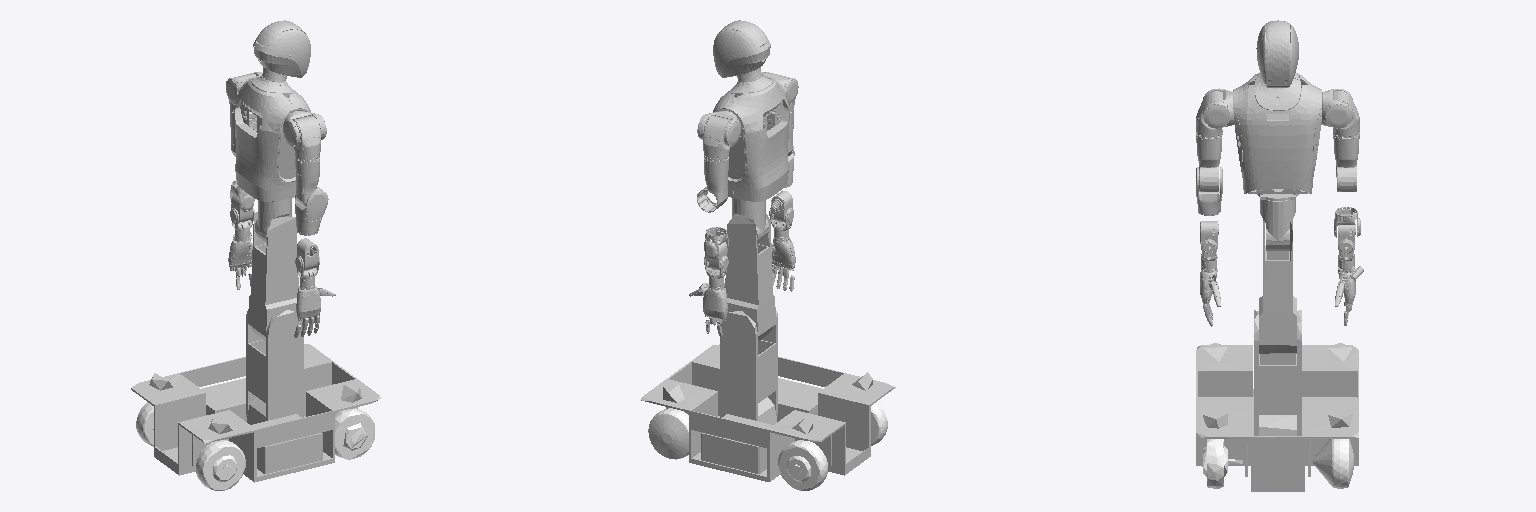
--- What the picture shows (computed from the rendered views, not written in the file) ---
3 views of the same robot in one strip: view 1: azimuth 30°, elevation 25°; view 2: azimuth 150°, elevation 25°; view 3: azimuth 270°, elevation 25° (orthographic).
Robot: M92UW — 89 links, 88 joints (44 revolute, 4 continuous, 40 fixed); root link base_footprint; default pose: every joint at zero.
Links seen in each view (by area): view 1: base_link, trunk_link, ankle_p_link, knee_p_link, head2_p_link, rb_wheel_link, rf_wheel_link, r_arm4_elbow_p_link, r_arm2_shoulder_r_link, r_arm3_shoulder_y_link, waist1_p_link, r_arm7_wrist_r_link (+2 smaller); view 2: base_link, trunk_link, ankle_p_link, knee_p_link, head2_p_link, lb_wheel_link, lf_wheel_link, l_arm3_shoulder_y_link, l_arm2_shoulder_r_link, waist1_p_link, l_arm1_shoulder_p_link, l_arm7_wrist_r_link (+2 smaller); view 3: base_link, trunk_link, knee_p_link, ankle_p_link, head2_p_link, lf_wheel_link, waist1_p_link, l_arm3_shoulder_y_link, r_arm3_shoulder_y_link, rf_wheel_link, l_arm1_shoulder_p_link, r_arm1_shoulder_p_link (+4 smaller).
Boxes of the visible links, bbox=[...] form: base_link: bbox=[131, 344, 380, 482]; trunk_link: bbox=[235, 76, 310, 201]; ankle_p_link: bbox=[246, 310, 303, 420]; knee_p_link: bbox=[248, 212, 298, 340]; head2_p_link: bbox=[253, 20, 310, 77]; rb_wheel_link: bbox=[196, 440, 245, 490]; rf_wheel_link: bbox=[335, 408, 374, 459]; r_arm4_elbow_p_link: bbox=[295, 190, 328, 235]; r_arm2_shoulder_r_link: bbox=[293, 115, 320, 161]; r_arm3_shoulder_y_link: bbox=[295, 158, 321, 207]; waist1_p_link: bbox=[255, 198, 291, 242]; r_arm7_wrist_r_link: bbox=[295, 256, 320, 319]; base_link: bbox=[641, 344, 895, 481]; trunk_link: bbox=[713, 76, 789, 201]; ankle_p_link: bbox=[720, 311, 777, 420]; knee_p_link: bbox=[725, 214, 775, 340]; head2_p_link: bbox=[713, 20, 770, 77]; lb_wheel_link: bbox=[778, 440, 827, 490]; lf_wheel_link: bbox=[648, 408, 688, 459]; l_arm3_shoulder_y_link: bbox=[697, 158, 728, 212]; l_arm2_shoulder_r_link: bbox=[703, 116, 730, 161]; waist1_p_link: bbox=[732, 198, 768, 242]; l_arm1_shoulder_p_link: bbox=[697, 111, 740, 146]; l_arm7_wrist_r_link: bbox=[703, 256, 728, 319]; base_link: bbox=[1196, 343, 1358, 491]; trunk_link: bbox=[1233, 73, 1321, 194]; knee_p_link: bbox=[1259, 219, 1296, 353]; ankle_p_link: bbox=[1254, 310, 1301, 435]; head2_p_link: bbox=[1256, 20, 1298, 87]; lf_wheel_link: bbox=[1313, 439, 1353, 488]; waist1_p_link: bbox=[1260, 200, 1295, 250]; l_arm3_shoulder_y_link: bbox=[1333, 134, 1359, 191]; r_arm3_shoulder_y_link: bbox=[1196, 133, 1222, 191]; rf_wheel_link: bbox=[1202, 439, 1242, 488]; l_arm1_shoulder_p_link: bbox=[1321, 89, 1352, 128]; r_arm1_shoulder_p_link: bbox=[1203, 88, 1234, 128].
Size in the robot's own frame: 0.8 by 0.6213 by 1.8 metres.
49 mesh visuals loaded from 57 distinct referenced files (49 binary STL); not drawn: 8 (reference not matched to a file when rendering).

robot.urdf — M92UW:
<?xml version="1.0" ?>
<!-- =================================================================================== -->
<!-- |    This document was autogenerated by xacro from [local-path]/workspace/urdf_temp/src/human_description/robots/M92UW/M92UW.urdf.xacro | -->
<!-- |    EDITING THIS FILE BY HAND IS NOT RECOMMENDED                                 | -->
<!-- =================================================================================== -->
<robot name="M92UW">
  <link name="base_footprint"/>
  <joint name="base_footprint_fixed_joint" type="fixed">
    <parent link="base_footprint"/>
    <child link="base_link"/>
    <origin rpy="0 0 0" xyz="0 0 0.131"/>
  </joint>
  <link name="base_link">
    <visual name="base_link_vis">
      <geometry>
        <mesh filename="package://human_description/meshes/M92UW/visual/base_link.stl" scale="1e-3 1e-3 1e-3"/>
      </geometry>
      <material name="metal">
        <color rgba="0.85 0.85 0.85 1"/>
      </material>
    </visual>
    <collision name="base_link_col">
      <geometry>
        <mesh filename="package://human_description/meshes/M92UW/collision/base_link.stl" scale="1e-3 1e-3 1e-3"/>
      </geometry>
    </collision>
    <inertial>
      <origin rpy="0.0 0.0 0.0" xyz="0.013367658 0 -0.015095836"/>
      <mass value="74.786285"/>
      <inertia ixx="2.5701579" ixy="0" ixz="-0.015531692" iyy="2.4786102" iyz="0" izz="4.3899894"/>
    </inertial>
  </link>
  <link name="lf_wheel_link">
    <visual name="lf_wheel_link_vis">
      <geometry>
        <mesh filename="package://human_description/meshes/M92UW/visual/lf_wheel_link.stl" scale="1e-3 1e-3 1e-3"/>
      </geometry>
      <material name="carbon">
        <color rgba="1 1 1 1"/>
        <texture filename="package://human_description/textures/carbon.png"/>
      </material>
    </visual>
    <collision name="lf_wheel_link_col">
      <origin rpy="1.5707963267948966 0 0" xyz="0 0.11 0"/>
      <geometry>
        <cylinder length="0.05" radius="0.102"/>
      </geometry>
    </collision>
    <inertial>
      <origin rpy="0.0 0.0 0.0" xyz="0 0.10966209 0"/>
      <mass value="1.1156517"/>
      <inertia ixx="0.0030579042" ixy="0" ixz="0" iyy="0.0050380481" iyz="0" izz="0.0030579069"/>
    </inertial>
  </link>
  <joint name="lf_wheel_joint" type="continuous">
    <parent link="base_link"/>
    <child link="lf_wheel_link"/>
    <origin rpy="0.0 0.0 0.0" xyz="0.29 0.12 -0.03"/>
    <axis xyz="0 1 0"/>
    <limit effort="4360.0" velocity="62.8"/>
    <dynamics damping="1.0" friction="0.0"/>
  </joint>
  <link name="lb_wheel_link">
    <visual name="lb_wheel_link_vis">
      <geometry>
        <mesh filename="package://human_description/meshes/M92UW/visual/lb_wheel_link.stl" scale="1e-3 1e-3 1e-3"/>
      </geometry>
      <material name="carbon">
        <color rgba="1 1 1 1"/>
        <texture filename="package://human_description/textures/carbon.png"/>
      </material>
    </visual>
    <collision name="lb_wheel_link_col">
      <origin rpy="1.5707963267948966 0 0" xyz="0 0.11 0"/>
      <geometry>
        <cylinder length="0.05" radius="0.102"/>
      </geometry>
    </collision>
    <inertial>
      <origin rpy="0.0 0.0 0.0" xyz="0 0.10966209 0"/>
      <mass value="1.1156517"/>
      <inertia ixx="0.0030579042" ixy="0" ixz="0" iyy="0.0050380481" iyz="0" izz="0.0030579069"/>
    </inertial>
  </link>
  <joint name="lb_wheel_joint" type="continuous">
    <parent link="base_link"/>
    <child link="lb_wheel_link"/>
    <origin rpy="0.0 0.0 0.0" xyz="-0.29 0.12 -0.03"/>
    <axis xyz="0 1 0"/>
    <limit effort="436.0" velocity="62.8"/>
    <dynamics damping="1.0" friction="0.0"/>
  </joint>
  <link name="rf_wheel_link">
    <visual name="rf_wheel_link_vis">
      <geometry>
        <mesh filename="package://human_description/meshes/M92UW/visual/rf_wheel_link.stl" scale="1e-3 1e-3 1e-3"/>
      </geometry>
      <material name="carbon">
        <color rgba="1 1 1 1"/>
        <texture filename="package://human_description/textures/carbon.png"/>
      </material>
    </visual>
    <collision name="rf_wheel_link_col">
      <origin rpy="1.5707963267948966 0 0" xyz="0 -0.11 0"/>
      <geometry>
        <cylinder length="0.005" radius="0.102"/>
      </geometry>
    </collision>
    <inertial>
      <origin rpy="0.0 0.0 0.0" xyz="0 -0.10966209 0"/>
      <mass value="1.1156517"/>
      <inertia ixx="0.0030579042" ixy="0" ixz="0" iyy="0.0050380481" iyz="0" izz="0.0030579069"/>
    </inertial>
  </link>
  <joint name="rf_wheel_joint" type="continuous">
    <parent link="base_link"/>
    <child link="rf_wheel_link"/>
    <origin rpy="0.0 0.0 0.0" xyz="0.29 -0.12 -0.03"/>
    <axis xyz="0 1 0"/>
    <limit effort="4360.0" velocity="62.8"/>
    <dynamics damping="1.0" friction="0.0"/>
  </joint>
  <link name="rb_wheel_link">
    <visual name="rb_wheel_link_vis">
      <geometry>
        <mesh filename="package://human_description/meshes/M92UW/visual/rb_wheel_link.stl" scale="1e-3 1e-3 1e-3"/>
      </geometry>
      <material name="carbon">
        <color rgba="1 1 1 1"/>
        <texture filename="package://human_description/textures/carbon.png"/>
      </material>
    </visual>
    <collision name="rb_wheel_link_col">
      <origin rpy="1.5707963267948966 0 0" xyz="0 -0.11 0"/>
      <geometry>
        <cylinder length="0.005" radius="0.102"/>
      </geometry>
    </collision>
    <inertial>
      <origin rpy="0.0 0.0 0.0" xyz="0 -0.10966209 0"/>
      <mass value="1.1156517"/>
      <inertia ixx="0.0030579042" ixy="0" ixz="0" iyy="0.0050380481" iyz="0" izz="0.0030579069"/>
    </inertial>
  </link>
  <joint name="rb_wheel_joint" type="continuous">
    <parent link="base_link"/>
    <child link="rb_wheel_link"/>
    <origin rpy="0.0 0.0 0.0" xyz="-0.29 -0.12 -0.03"/>
    <axis xyz="0 1 0"/>
    <limit effort="4360.0" velocity="62.8"/>
    <dynamics damping="1.0" friction="0.0"/>
  </joint>
  <link name="ankle_p_link">
    <visual name="ankle_p_link_vis">
      <geometry>
        <mesh filename="package://human_description/meshes/M92UW/visual/ankle_p_link.stl" scale="1e-3 1e-3 1e-3"/>
      </geometry>
      <material name="metal">
        <color rgba="0.85 0.85 0.85 1"/>
      </material>
    </visual>
    <collision name="ankle_p_link_col">
      <geometry>
        <mesh filename="package://human_description/meshes/M92UW/collision/ankle_p_link.stl" scale="1e-3 1e-3 1e-3"/>
      </geometry>
    </collision>
    <inertial>
      <origin rpy="0.0 0.0 0.0" xyz="0 0.00031353654 0.2"/>
      <mass value="5.0014729"/>
      <inertia ixx="0.12742424" ixy="0.0" ixz="0.0" iyy="0.11078527" iyz="0.0" izz="0.040523373"/>
    </inertial>
  </link>
  <joint name="ankle_p_joint" type="revolute">
    <parent link="base_link"/>
    <child link="ankle_p_link"/>
    <origin rpy="0.0 0.0 0.0" xyz="0.085 0.0 0.0"/>
    <axis xyz="0 1 0"/>
    <limit effort="436.0" lower="-1.5707963267948966" upper="0.05235987755982988" velocity="2.51"/>
    <safety_controller k_position="121.0" k_velocity="540.0" soft_lower_limit="-1.5184364492350666" soft_upper_limit="0.0"/>
    <dynamics damping="1.0" friction="0.1"/>
  </joint>
  <link name="knee_p_link">
    <visual name="knee_p_link_vis">
      <geometry>
        <mesh filename="package://human_description/meshes/M92UW/visual/knee_p_link.stl" scale="1e-3 1e-3 1e-3"/>
      </geometry>
      <material name="metal">
        <color rgba="0.85 0.85 0.85 1"/>
      </material>
    </visual>
    <collision name="knee_p_link_col">
      <geometry>
        <mesh filename="package://human_description/meshes/M92UW/collision/knee_p_link.stl" scale="1e-3 1e-3 1e-3"/>
      </geometry>
    </collision>
    <inertial>
      <origin rpy="0.0 0.0 0.0" xyz="-0.00017250466 -5.7499427e-05 0.091520826"/>
      <mass value="9.9995835"/>
      <inertia ixx="0.17718143" ixy="3.3078853e-07" ixz="0.00019537528" iyy="0.17966307" iyz="6.5114089e-05" izz="0.038209575"/>
    </inertial>
  </link>
  <joint name="knee_p_joint" type="revolute">
    <parent link="ankle_p_link"/>
    <child link="knee_p_link"/>
    <origin rpy="0.0 0.0 0.0" xyz="0.0 0.0 0.4"/>
    <axis xyz="0 1 0"/>
    <limit effort="436.0" lower="-0.05235987755982988" upper="2.7768188399229783" velocity="2.51"/>
    <safety_controller k_position="121.0" k_velocity="540.0" soft_lower_limit="0.0" soft_upper_limit="2.724458962363148"/>
    <dynamics damping="1.0" friction="0.1"/>
  </joint>
  <link name="waist1_p_link">
    <visual name="waist1_p_link_vis">
      <geometry>
        <mesh filename="package://human_description/meshes/M92UW/visual/waist1_p_link.stl" scale="1e-3 1e-3 1e-3"/>
      </geometry>
      <material name="metal">
        <color rgba="0.85 0.85 0.85 1"/>
      </material>
    </visual>
    <collision name="waist1_p_link_col">
      <geometry>
        <mesh filename="package://human_description/meshes/M92UW/collision/waist1_p_link.stl" scale="1e-3 1e-3 1e-3"/>
      </geometry>
    </collision>
    <inertial>
      <origin rpy="0.0 0.0 0.0" xyz="0 0 0.057429778"/>
      <mass value="6.3049221"/>
      <inertia ixx="0.029907033" ixy="0" ixz="0" iyy="0.031745346" iyz="0" izz="0.012330906"/>
    </inertial>
  </link>
  <joint name="waist1_p_joint" type="revolute">
    <parent link="knee_p_link"/>
    <child link="waist1_p_link"/>
    <origin rpy="0.0 0.0 0.0" xyz="0.0 0.0 0.4"/>
    <axis xyz="0 1 0"/>
    <limit effort="207.0" lower="-2.2689280275926285" upper="2.2689280275926285" velocity="3.14"/>
    <safety_controller k_position="121.0" k_velocity="540.0" soft_lower_limit="-2.2165681500327987" soft_upper_limit="2.2165681500327987"/>
    <dynamics damping="1.0" friction="0.1"/>
  </joint>
  <link name="waist2_y_link">
    <visual name="waist2_y_link_vis">
      <geometry>
        <mesh filename="package://human_description/meshes/M92UW/visual/waist2_y_link.stl" scale="1e-3 1e-3 1e-3"/>
      </geometry>
      <material name="metal">
        <color rgba="0.85 0.85 0.85 1"/>
      </material>
    </visual>
    <collision name="waist2_y_link_col">
      <geometry>
        <mesh filename="package://human_description/meshes/M92UW/collision/waist2_y_link.stl" scale="1e-3 1e-3 1e-3"/>
      </geometry>
    </collision>
    <inertial>
      <origin rpy="0.0 0.0 0.0" xyz="0 0 0.17307869"/>
      <mass value="0.70904416"/>
      <inertia ixx="0.0010443308" ixy="0" ixz="0" iyy="0.0010443307" iyz="0" izz="0.002054833"/>
    </inertial>
  </link>
  <joint name="waist2_y_joint" type="revolute">
    <parent link="waist1_p_link"/>
    <child link="waist2_y_link"/>
    <origin rpy="0.0 0.0 0.0" xyz="0.0 0.0 0.0"/>
    <axis xyz="0 0 1"/>
    <limit effort="207.0" lower="-1.5707963267948966" upper="1.5707963267948966" velocity="3.14"/>
    <safety_controller k_position="121.0" k_velocity="540.0" soft_lower_limit="-1.5184364492350666" soft_upper_limit="1.5184364492350666"/>
    <dynamics damping="1.0" friction="0.1"/>
  </joint>
  <link name="trunk_link">
    <visual name="trunk_link_vis">
      <geometry>
        <mesh filename="package://human_description/meshes/M92UW/visual/trunk_link.stl" scale="1e-3 1e-3 1e-3"/>
      </geometry>
      <material name="metal">
        <color rgba="0.85 0.85 0.85 1"/>
      </material>
    </visual>
    <collision name="trunk_link_col">
      <geometry>
        <mesh filename="package://human_description/meshes/M92UW/collision/trunk_link.stl" scale="1e-3 1e-3 1e-3"/>
      </geometry>
    </collision>
    <inertial>
      <origin rpy="0.0 0.0 0.0" xyz="-0.0085487881 -9.606895e-06 -0.077759044"/>
      <mass value="12.350557"/>
      <inertia ixx="0.35316138" ixy="-1.0848429e-05" ixz="-0.010659045" iyy="0.26640983" iyz="8.9227842e-06" izz="0.20173237"/>
    </inertial>
  </link>
  <joint name="trunk_fixed_joint" type="fixed">
    <parent link="waist2_y_link"/>
    <child link="trunk_link"/>
    <origin rpy="0.0 0.0 0.0" xyz="0.0 0.0 0.510000061"/>
    <axis xyz="0 0 1"/>
  </joint>
  <link name="head1_y_link">
    <visual name="head1_y_link_vis">
      <geometry>
        <mesh filename="package://human_description/meshes/M92UW/visual/head1_y_link.stl" scale="1e-3 1e-3 1e-3"/>
      </geometry>
      <material name="metal">
        <color rgba="0.85 0.85 0.85 1"/>
      </material>
    </visual>
    <collision name="head1_y_link_col">
      <geometry>
        <mesh filename="package://human_description/meshes/M92UW/collision/head1_y_link.stl" scale="1e-3 1e-3 1e-3"/>
      </geometry>
    </collision>
    <inertial>
      <origin rpy="0.0 0.0 0.0" xyz="0 0 0"/>
      <mass value="0.9701721487615899"/>
      <inertia ixx="0.002353602425794535" ixy="-1.5047554446877549e-06" ixz="9.720103999911807e-07" iyy="0.0023108930597505323" iyz="-5.8260809010239775e-05" izz="0.0008192659356165283"/>
    </inertial>
  </link>
  <joint name="head1_y_joint" type="revolute">
    <parent link="trunk_link"/>
    <child link="head1_y_link"/>
    <origin rpy="0.0 0.227 0.0" xyz="0.00825076246 0.0 0.187487518331"/>
    <axis xyz="0 0 1"/>
    <limit effort="16.0" lower="-0.7853981633974483" upper="0.7853981633974483" velocity="6.0"/>
    <safety_controller k_position="121.0" k_velocity="540.0" soft_lower_limit="-0.7330382858376184" soft_upper_limit="0.7330382858376184"/>
    <dynamics damping="1.0" friction="0.1"/>
  </joint>
  <link name="head2_p_link">
    <visual name="head2_p_link_vis">
      <geometry>
        <mesh filename="package://human_description/meshes/M92UW/visual/head2_p_link.stl" scale="1e-3 1e-3 1e-3"/>
      </geometry>
      <material name="metal">
        <color rgba="0.85 0.85 0.85 1"/>
      </material>
    </visual>
    <collision name="head2_p_link_col">
      <geometry>
        <mesh filename="package://human_description/meshes/M92UW/collision/head2_p_link.stl" scale="1e-3 1e-3 1e-3"/>
      </geometry>
    </collision>
    <inertial>
      <origin rpy="0.0 0.0 0.0" xyz="0.023983628 -3.4088057e-05 0.060004983"/>
      <mass value="1.4412722"/>
      <inertia ixx="0.0051107798" ixy="-5.4733507e-05" ixz="0.001174679" iyy="0.0074364813" iyz="3.6514141e-05" izz="0.0066131559"/>
    </inertial>
  </link>
  <joint name="head2_p_joint" type="revolute">
    <parent link="head1_y_link"/>
    <child link="head2_p_link"/>
    <origin rpy="0.0 0.0 0.0" xyz="0.0 0.0 0.0"/>
    <axis xyz="0 1 0"/>
    <limit effort="15.0" lower="-0.3490658503988659" upper="0.2617993877991494" velocity="8.0"/>
    <safety_controller k_position="121.0" k_velocity="540.0" soft_lower_limit="-0.29670597283903605" soft_upper_limit="0.20943951023931953"/>
    <dynamics damping="1.0" friction="0.1"/>
  </joint>
  <link name="l_arm1_shoulder_p_link">
    <visual name="l_arm1_shoulder_p_link_vis">
      <geometry>
        <mesh filename="package://human_description/meshes/M92UW/visual/l_arm1_shoulder_p_link.stl" scale="1e-3 1e-3 1e-3"/>
      </geometry>
      <material name="metal">
        <color rgba="0.85 0.85 0.85 1"/>
      </material>
    </visual>
    <collision name="l_arm1_shoulder_p_link_col">
      <geometry>
        <mesh filename="package://human_description/meshes/M92UW/collision/l_arm1_shoulder_p_link.stl" scale="1e-3 1e-3 1e-3"/>
      </geometry>
    </collision>
    <inertial>
      <origin rpy="0.0 0.0 0.0" xyz="0.008950692823963513 -0.007910244340673698 0.001047817615140858"/>
      <mass value="2.347873199255413"/>
      <inertia ixx="0.00371805577636075" ixy="-0.00020375534708451775" ixz="3.609106173368525e-05" iyy="0.004459283172641818" iyz="5.624647211110556e-05" izz="0.004925669991342847"/>
    </inertial>
  </link>
  <joint name="l_arm1_shoulder_p_joint" type="revolute">
    <parent link="trunk_link"/>
    <child link="l_arm1_shoulder_p_link"/>
    <origin rpy="0.0 0.0 0.0" xyz="0.0 0.225 0.0"/>
    <axis xyz="0 1 0"/>
    <limit effort="107.0" lower="-3.141592653589793" upper="1.0000736613927508" velocity="3.9"/>
    <safety_controller k_position="121.0" k_velocity="540.0" soft_lower_limit="-3.0892327760299634" soft_upper_limit="0.9477137838329208"/>
    <dynamics damping="1.0" friction="0.1"/>
  </joint>
  <link name="l_arm2_shoulder_r_link">
    <visual name="l_arm2_shoulder_r_link_vis">
      <geometry>
        <mesh filename="package://human_description/meshes/M92UW/visual/l_arm2_shoulder_r_link.stl" scale="1e-3 1e-3 1e-3"/>
      </geometry>
      <material name="metal">
        <color rgba="0.85 0.85 0.85 1"/>
      </material>
    </visual>
    <collision name="l_arm2_shoulder_r_link_col">
      <geometry>
        <mesh filename="package://human_description/meshes/M92UW/collision/l_arm2_shoulder_r_link.stl" scale="1e-3 1e-3 1e-3"/>
      </geometry>
    </collision>
    <inertial>
      <origin rpy="0.0 0.0 0.0" xyz="0.00036305191629661246 0.011843042908443239 -0.03652190992211854"/>
      <mass value="0.752587840927864"/>
      <inertia ixx="0.0026036114569122793" ixy="8.592053527867745e-06" ixz="1.6856075010420394e-05" iyy="0.0024594847856526784" iyz="0.0002802648051565737" izz="0.0016631005538151674"/>
    </inertial>
  </link>
  <joint name="l_arm2_shoulder_r_joint" type="revolute">
    <parent link="l_arm1_shoulder_p_link"/>
    <child link="l_arm2_shoulder_r_link"/>
    <origin rpy="0.0 0.0 0.0" xyz="0.0 0.0 0.0"/>
    <axis xyz="1 0 0"/>
    <limit effort="107.0" lower="-0.5235987755982988" upper="1.5707963267948966" velocity="3.9"/>
    <safety_controller k_position="121.0" k_velocity="540.0" soft_lower_limit="-0.47123889803846897" soft_upper_limit="1.5184364492350666"/>
    <dynamics damping="1.0" friction="0.1"/>
  </joint>
  <link name="l_arm3_shoulder_y_link">
    <visual name="l_arm3_shoulder_y_link_vis">
      <geometry>
        <mesh filename="package://human_description/meshes/M92UW/visual/l_arm3_shoulder_y_link.stl" scale="1e-3 1e-3 1e-3"/>
      </geometry>
      <material name="metal">
        <color rgba="0.85 0.85 0.85 1"/>
      </material>
    </visual>
    <collision name="l_arm3_shoulder_y_link_col">
      <geometry>
        <mesh filename="package://human_description/meshes/M92UW/collision/l_arm3_shoulder_y_link.stl" scale="1e-3 1e-3 1e-3"/>
      </geometry>
    </collision>
    <inertial>
      <origin rpy="0.0 0.0 0.0" xyz="0.009483721082429376 0.0009283823410288751 0.07220283077817466"/>
      <mass value="2.8032226973946757"/>
      <inertia ixx="0.01709273409680172" ixy="-3.1041493444281146e-05" ixz="0.0018537887840343332" iyy="0.017612642148909542" iyz="0.00017830759281331393" izz="0.003132408910489035"/>
    </inertial>
  </link>
  <joint name="l_arm3_shoulder_y_joint" type="revolute">
    <parent link="l_arm2_shoulder_r_link"/>
    <child link="l_arm3_shoulder_y_link"/>
    <origin rpy="0.0 0.0 0.0" xyz="0.0 0.0275 -0.28"/>
    <axis xyz="0 0 1"/>
    <limit effort="70.0" lower="-3.139847324337799" upper="3.139847324337799" velocity="3.8"/>
    <safety_controller k_position="121.0" k_velocity="540.0" soft_lower_limit="-3.087487446777969" soft_upper_limit="3.087487446777969"/>
    <dynamics damping="1.0" friction="0.1"/>
  </joint>
  <link name="l_arm4_elbow_p_link">
    <visual name="l_arm4_elbow_p_link_vis">
      <geometry>
        <mesh filename="package://human_description/meshes/M92UW/visual/l_arm4_elbow_p_link.stl" scale="1e-3 1e-3 1e-3"/>
      </geometry>
      <material name="metal">
        <color rgba="0.85 0.85 0.85 1"/>
      </material>
    </visual>
    <collision name="l_arm4_elbow_p_link_col">
      <geometry>
        <mesh filename="package://human_description/meshes/M92UW/collision/l_arm4_elbow_p_link.stl" scale="1e-3 1e-3 1e-3"/>
      </geometry>
    </collision>
    <inertial>
      <origin rpy="0.0 0.0 0.0" xyz="-0.016878859016134812 -0.002424599482891291 -0.08347296858171128"/>
      <mass value="1.4951436605879314"/>
      <inertia ixx="0.004293550118219109" ixy="4.3192250569185595e-05" ixz="-0.0003401699176851234" iyy="0.004009022454595748" iyz="0.00022976670691615358" izz="0.0019433761729977456"/>
    </inertial>
  </link>
  <joint name="l_arm4_elbow_p_joint" type="revolute">
    <parent link="l_arm3_shoulder_y_link"/>
    <child link="l_arm4_elbow_p_link"/>
    <origin rpy="0.0 0.0 0.0" xyz="0.02 0.0 0.0"/>
    <axis xyz="0 1 0"/>
    <limit effort="70.0" lower="-2.6162485487394997" upper="0.05235987755982988" velocity="3.8"/>
    <safety_controller k_position="121.0" k_velocity="540.0" soft_lower_limit="-2.5638886711796705" soft_upper_limit="0.0"/>
    <dynamics damping="1.0" friction="0.1"/>
  </joint>
  <link name="l_arm5_wrist_y_link">
    <visual name="l_arm5_wrist_y_link_vis">
      <geometry>
        <mesh filename="package://human_description/meshes/M92UW/visual/l_arm5_wrist_y_link.stl" scale="1e-3 1e-3 1e-3"/>
      </geometry>
      <material name="metal">
        <color rgba="0.85 0.85 0.85 1"/>
      </material>
    </visual>
    <collision name="l_arm5_wrist_y_link_col">
      <geometry>
        <mesh filename="package://human_description/meshes/M92UW/collision/l_arm5_wrist_y_link.stl" scale="1e-3 1e-3 1e-3"/>
      </geometry>
    </collision>
    <inertial>
      <origin rpy="0.0 0.0 0.0" xyz="1.0105403425632446e-05 -0.0007920766777345156 0.033467755020747975"/>
      <mass value="0.27226645693469925"/>
      <inertia ixx="0.00042677981237483024" ixy="1.5635914930696041e-07" ixz="-8.511440415016232e-08" iyy="0.00029281147887157377" iyz="-2.9845719981923703e-05" izz="0.0003716353641820523"/>
    </inertial>
  </link>
  <joint name="l_arm5_wrist_y_joint" type="revolute">
    <parent link="l_arm4_elbow_p_link"/>
    <child link="l_arm5_wrist_y_link"/>
    <origin rpy="0.0 0.0 0.0" xyz="-0.02 0.0 -0.213"/>
    <axis xyz="0 0 1"/>
    <limit effort="36.0" lower="-3.141592653589793" upper="3.141592653589793" velocity="4.3"/>
    <safety_controller k_position="121.0" k_velocity="540.0" soft_lower_limit="-3.0892327760299634" soft_upper_limit="3.0892327760299634"/>
    <dynamics damping="1.0" friction="0.1"/>
  </joint>
  <link name="l_arm6_wrist_p_link">
    <visual name="l_arm6_wrist_p_link_vis">
      <geometry>
        <mesh filename="package://human_description/meshes/M92UW/visual/l_arm6_wrist_p_link.stl" scale="1e-3 1e-3 1e-3"/>
      </geometry>
      <material name="metal">
        <color rgba="0.85 0.85 0.85 1"/>
      </material>
    </visual>
    <collision name="l_arm6_wrist_p_link_col">
      <geometry>
        <mesh filename="package://human_description/meshes/M92UW/collision/l_arm6_wrist_p_link.stl" scale="1e-3 1e-3 1e-3"/>
      </geometry>
    </collision>
    <inertial>
      <origin rpy="0.0 0.0 0.0" xyz="-0.0023977486620611805 0.0032941533904827926 -0.02747107099422101"/>
      <mass value="0.8769025437478114"/>
      <inertia ixx="0.0011344037552627772" ixy="-5.74262388435353e-06" ixz="-5.7053004228770495e-05" iyy="0.0011212906698454524" iyz="-8.099881421779838e-05" izz="0.0005394058553208015"/>
    </inertial>
  </link>
  <joint name="l_arm6_wrist_p_joint" type="revolute">
    <parent link="l_arm5_wrist_y_link"/>
    <child link="l_arm6_wrist_p_link"/>
    <origin rpy="0.0 0.0 0.0" xyz="0.0 0.0 0.0"/>
    <axis xyz="0 1 0"/>
    <limit effort="15.0" lower="-1.3962634015954636" upper="1.3962634015954636" velocity="7.7"/>
    <safety_controller k_position="121.0" k_velocity="540.0" soft_lower_limit="-1.3439035240356338" soft_upper_limit="1.3439035240356338"/>
    <dynamics damping="1.0" friction="0.1"/>
  </joint>
  <link name="l_arm7_wrist_r_link">
    <visual name="l_arm7_wrist_r_link_vis">
      <geometry>
        <mesh filename="package://human_description/meshes/M92UW/visual/l_arm7_wrist_r_link.stl" scale="1e-3 1e-3 1e-3"/>
      </geometry>
      <material name="metal">
        <color rgba="0.85 0.85 0.85 1"/>
      </material>
    </visual>
    <collision name="l_arm7_wrist_r_link_col">
      <geometry>
        <mesh filename="package://human_description/meshes/M92UW/collision/l_arm7_wrist_r_link.stl" scale="1e-3 1e-3 1e-3"/>
      </geometry>
    </collision>
    <inertial>
      <origin rpy="0.0 0.0 0.0" xyz="0.005628948451189553 -0.0002631286864539303 -0.13713379318786653"/>
      <mass value="1.1182834022922525"/>
      <inertia ixx="0.00054013059" ixy="-3.4201381e-06" ixz="1.2981479e-05" iyy="0.00040641427" iyz="-1.619246e-05" izz="0.0002867356"/>
    </inertial>
  </link>
  <joint name="l_arm7_wrist_r_joint" type="revolute">
    <parent link="l_arm6_wrist_p_link"/>
    <child link="l_arm7_wrist_r_link"/>
    <origin rpy="0.0 0.0 0.0" xyz="0.0 0.0 -0.055"/>
    <axis xyz="1 0 0"/>
    <limit effort="15.0" lower="-1.3962634015954636" upper="1.3962634015954636" velocity="7.7"/>
    <safety_controller k_position="121.0" k_velocity="540.0" soft_lower_limit="-1.3439035240356338" soft_upper_limit="1.3439035240356338"/>
    <dynamics damping="1.0" friction="0.1"/>
  </joint>
  <link name="l_arm_force_sensor_link">
    <visual name="l_arm_force_sensor_link_vis">
      <geometry>
        <mesh filename="package://human_description/meshes/M92UW/visual/l_arm_force_sensor_link.stl" scale="1e-3 1e-3 1e-3"/>
      </geometry>
      <material name="metal">
        <color rgba="0.85 0.85 0.85 1"/>
      </material>
    </visual>
    <collision name="l_arm_force_sensor_link_col">
      <geometry>
        <mesh filename="package://human_description/meshes/M92UW/collision/l_arm_force_sensor_link.stl" scale="1e-3 1e-3 1e-3"/>
      </geometry>
    </collision>
    <inertial>
      <origin rpy="0.0 0.0 0.0" xyz="-3.6099554e-06 0.00010782379 -0.01796209"/>
      <mass value="0.18791729"/>
      <inertia ixx="6.7718362e-05" ixy="-8.1094726e-09" ixz="-1.4043436e-08" iyy="6.769248e-05" iyz="-8.3150825e-08" izz="9.1033288e-05"/>
    </inertial>
  </link>
  <joint name="l_arm_force_sensor_fixed_joint" type="fixed">
    <parent link="l_arm7_wrist_r_link"/>
    <child link="l_arm_force_sensor_link"/>
    <origin rpy="0.0 0.0 0.0" xyz="0.0 0.0 -0.06"/>
    <axis xyz="0 0 1"/>
  </joint>
  <link name="l_end_effector_frame"/>
  <joint name="l_end_effector_fixed_joint" type="fixed">
    <parent link="l_arm_force_sensor_link"/>
    <child link="l_end_effector_frame"/>
    <origin rpy="0 1.5707963 0" xyz="0 0 -0.1784999"/>
    <axis xyz="0 0 1"/>
  </joint>
  <link name="r_arm1_shoulder_p_link">
    <visual name="r_arm1_shoulder_p_link_vis">
      <geometry>
        <mesh filename="package://human_description/meshes/M92UW/visual/r_arm1_shoulder_p_link.stl" scale="1e-3 1e-3 1e-3"/>
      </geometry>
      <material name="metal">
        <color rgba="0.85 0.85 0.85 1"/>
      </material>
    </visual>
    <collision name="r_arm1_shoulder_p_link_col">
      <geometry>
        <mesh filename="package://human_description/meshes/M92UW/collision/r_arm1_shoulder_p_link.stl" scale="1e-3 1e-3 1e-3"/>
      </geometry>
    </collision>
    <inertial>
      <origin rpy="0.0 0.0 0.0" xyz="0.008950692823963513 0.007910244340673698 0.001047817615140858"/>
      <mass value="2.347873199255413"/>
      <inertia ixx="0.00371805577636075" ixy="0.00020375534708451775" ixz="3.609106173368525e-05" iyy="0.004459283172641818" iyz="-5.624647211110556e-05" izz="0.004925669991342847"/>
    </inertial>
  </link>
  <joint name="r_arm1_shoulder_p_joint" type="revolute">
    <parent link="trunk_link"/>
    <child link="r_arm1_shoulder_p_link"/>
    <origin rpy="0.0 0.0 0.0" xyz="0.0 -0.225 0.0"/>
    <axis xyz="0 1 0"/>
    <limit effort="107.0" lower="-3.141592653589793" upper="1.0000736613927508" velocity="3.9"/>
    <safety_controller k_position="121.0" k_velocity="540.0" soft_lower_limit="-3.0892327760299634" soft_upper_limit="0.9477137838329208"/>
    <dynamics damping="1.0" friction="0.1"/>
  </joint>
  <link name="r_arm2_shoulder_r_link">
    <visual name="r_arm2_shoulder_r_link_vis">
      <geometry>
        <mesh filename="package://human_description/meshes/M92UW/visual/r_arm2_shoulder_r_link.stl" scale="1e-3 1e-3 1e-3"/>
      </geometry>
      <material name="metal">
        <color rgba="0.85 0.85 0.85 1"/>
      </material>
    </visual>
    <collision name="r_arm2_shoulder_r_link_col">
      <geometry>
        <mesh filename="package://human_description/meshes/M92UW/collision/r_arm2_shoulder_r_link.stl" scale="1e-3 1e-3 1e-3"/>
      </geometry>
    </collision>
    <inertial>
      <origin rpy="0.0 0.0 0.0" xyz="0.00036305191629661246 -0.011843042908443239 -0.03652190992211854"/>
      <mass value="0.752587840927864"/>
      <inertia ixx="0.0026036114569122793" ixy="-8.592053527867745e-06" ixz="1.6856075010420394e-05" iyy="0.0024594847856526784" iyz="-0.0002802648051565737" izz="0.0016631005538151674"/>
    </inertial>
  </link>
  <joint name="r_arm2_shoulder_r_joint" type="revolute">
    <parent link="r_arm1_shoulder_p_link"/>
    <child link="r_arm2_shoulder_r_link"/>
    <origin rpy="0.0 0.0 0.0" xyz="0.0 0.0 0.0"/>
    <axis xyz="1 0 0"/>
    <limit effort="107.0" lower="-1.5707963267948966" upper="0.5235987755982988" velocity="3.9"/>
    <safety_controller k_position="121.0" k_velocity="540.0" soft_lower_limit="-1.5184364492350666" soft_upper_limit="0.47123889803846897"/>
    <dynamics damping="1.0" friction="0.1"/>
  </joint>
  <link name="r_arm3_shoulder_y_link">
    <visual name="r_arm3_shoulder_y_link_vis">
      <geometry>
        <mesh filename="package://human_description/meshes/M92UW/visual/r_arm3_shoulder_y_link.stl" scale="1e-3 1e-3 1e-3"/>
      </geometry>
      <material name="metal">
        <color rgba="0.85 0.85 0.85 1"/>
      </material>
    </visual>
    <collision name="r_arm3_shoulder_y_link_col">
      <geometry>
        <mesh filename="package://human_description/meshes/M92UW/collision/r_arm3_shoulder_y_link.stl" scale="1e-3 1e-3 1e-3"/>
      </geometry>
    </collision>
    <inertial>
      <origin rpy="0.0 0.0 0.0" xyz="0.009483721082429376 -0.0009283823410288751 0.07220283077817466"/>
      <mass value="2.8032226973946757"/>
      <inertia ixx="0.01709273409680172" ixy="3.1041493444281146e-05" ixz="0.0018537887840343332" iyy="0.017612642148909542" iyz="-0.00017830759281331393" izz="0.003132408910489035"/>
    </inertial>
  </link>
  <joint name="r_arm3_shoulder_y_joint" type="revolute">
    <parent link="r_arm2_shoulder_r_link"/>
    <child link="r_arm3_shoulder_y_link"/>
    <origin rpy="0.0 0.0 0.0" xyz="0.0 -0.0275 -0.28"/>
    <axis xyz="0 0 1"/>
    <limit effort="70.0" lower="-3.139847324337799" upper="3.139847324337799" velocity="3.8"/>
    <safety_controller k_position="121.0" k_velocity="540.0" soft_lower_limit="-3.087487446777969" soft_upper_limit="3.087487446777969"/>
    <dynamics damping="1.0" friction="0.1"/>
  </joint>
  <link name="r_arm4_elbow_p_link">
    <visual name="r_arm4_elbow_p_link_vis">
      <geometry>
        <mesh filename="package://human_description/meshes/M92UW/visual/r_arm4_elbow_p_link.stl" scale="1e-3 1e-3 1e-3"/>
      </geometry>
      <material name="metal">
        <color rgba="0.85 0.85 0.85 1"/>
      </material>
    </visual>
    <collision name="r_arm4_elbow_p_link_col">
      <geometry>
        <mesh filename="package://human_description/meshes/M92UW/collision/r_arm4_elbow_p_link.stl" scale="1e-3 1e-3 1e-3"/>
      </geometry>
    </collision>
    <inertial>
      <origin rpy="0.0 0.0 0.0" xyz="-0.016878859016134812 0.002424599482891291 -0.08347296858171128"/>
      <mass value="1.4951436605879314"/>
      <inertia ixx="0.004293550118219109" ixy="-4.3192250569185595e-05" ixz="-0.0003401699176851234" iyy="0.004009022454595748" iyz="-0.00022976670691615358" izz="0.0019433761729977456"/>
    </inertial>
  </link>
  <joint name="r_arm4_elbow_p_joint" type="revolute">
    <parent link="r_arm3_shoulder_y_link"/>
    <child link="r_arm4_elbow_p_link"/>
    <origin rpy="0.0 0.0 0.0" xyz="0.02 0.0 0.0"/>
    <axis xyz="0 1 0"/>
    <limit effort="70.0" lower="-2.6162485487394997" upper="0.05235987755982988" velocity="3.8"/>
    <safety_controller k_position="121.0" k_velocity="540.0" soft_lower_limit="-2.5638886711796705" soft_upper_limit="0.0"/>
    <dynamics damping="1.0" friction="0.1"/>
  </joint>
  <link name="r_arm5_wrist_y_link">
    <visual name="r_arm5_wrist_y_link_vis">
      <geometry>
        <mesh filename="package://human_description/meshes/M92UW/visual/r_arm5_wrist_y_link.stl" scale="1e-3 1e-3 1e-3"/>
      </geometry>
      <material name="metal">
        <color rgba="0.85 0.85 0.85 1"/>
      </material>
    </visual>
    <collision name="r_arm5_wrist_y_link_col">
      <geometry>
        <mesh filename="package://human_description/meshes/M92UW/collision/r_arm5_wrist_y_link.stl" scale="1e-3 1e-3 1e-3"/>
      </geometry>
    </collision>
    <inertial>
      <origin rpy="0.0 0.0 0.0" xyz="1.0105403425632446e-05 0.0007920766777345156 0.033467755020747975"/>
      <mass value="0.27226645693469925"/>
      <inertia ixx="0.00042677981237483024" ixy="-1.5635914930696041e-07" ixz="-8.511440415016232e-08" iyy="0.00029281147887157377" iyz="2.9845719981923703e-05" izz="0.0003716353641820523"/>
    </inertial>
  </link>
  <joint name="r_arm5_wrist_y_joint" type="revolute">
    <parent link="r_arm4_elbow_p_link"/>
    <child link="r_arm5_wrist_y_link"/>
    <origin rpy="0.0 0.0 0.0" xyz="-0.02 0.0 -0.213"/>
    <axis xyz="0 0 1"/>
    <limit effort="36.0" lower="-3.141592653589793" upper="3.141592653589793" velocity="4.3"/>
    <safety_controller k_position="121.0" k_velocity="540.0" soft_lower_limit="-3.0892327760299634" soft_upper_limit="3.0892327760299634"/>
    <dynamics damping="1.0" friction="0.1"/>
  </joint>
  <link name="r_arm6_wrist_p_link">
    <visual name="r_arm6_wrist_p_link_vis">
      <geometry>
        <mesh filename="package://human_description/meshes/M92UW/visual/r_arm6_wrist_p_link.stl" scale="1e-3 1e-3 1e-3"/>
      </geometry>
      <material name="metal">
        <color rgba="0.85 0.85 0.85 1"/>
      </material>
    </visual>
    <collision name="r_arm6_wrist_p_link_col">
      <geometry>
        <mesh filename="package://human_description/meshes/M92UW/collision/r_arm6_wrist_p_link.stl" scale="1e-3 1e-3 1e-3"/>
      </geometry>
    </collision>
    <inertial>
      <origin rpy="0.0 0.0 0.0" xyz="-0.0023977486620611805 -0.0032941533904827926 -0.02747107099422101"/>
      <mass value="0.8769025437478114"/>
      <inertia ixx="0.0011344037552627772" ixy="5.74262388435353e-06" ixz="-5.7053004228770495e-05" iyy="0.0011212906698454524" iyz="8.099881421779838e-05" izz="0.0005394058553208015"/>
    </inertial>
  </link>
  <joint name="r_arm6_wrist_p_joint" type="revolute">
    <parent link="r_arm5_wrist_y_link"/>
    <child link="r_arm6_wrist_p_link"/>
    <origin rpy="0.0 0.0 0.0" xyz="0.0 0.0 0.0"/>
    <axis xyz="0 1 0"/>
    <limit effort="15.0" lower="-1.3962634015954636" upper="1.3962634015954636" velocity="7.7"/>
    <safety_controller k_position="121.0" k_velocity="540.0" soft_lower_limit="-1.3439035240356338" soft_upper_limit="1.3439035240356338"/>
    <dynamics damping="1.0" friction="0.1"/>
  </joint>
  <link name="r_arm7_wrist_r_link">
    <visual name="r_arm7_wrist_r_link_vis">
      <geometry>
        <mesh filename="package://human_description/meshes/M92UW/visual/r_arm7_wrist_r_link.stl" scale="1e-3 1e-3 1e-3"/>
      </geometry>
      <material name="metal">
        <color rgba="0.85 0.85 0.85 1"/>
      </material>
    </visual>
    <collision name="r_arm7_wrist_r_link_col">
      <geometry>
        <mesh filename="package://human_description/meshes/M92UW/collision/r_arm7_wrist_r_link.stl" scale="1e-3 1e-3 1e-3"/>
      </geometry>
    </collision>
    <inertial>
      <origin rpy="0.0 0.0 0.0" xyz="0.005628948451189553 0.0002631286864539303 -0.13713379318786653"/>
      <mass value="1.1182834022922525"/>
      <inertia ixx="0.00054013059" ixy="3.4201381e-06" ixz="1.2981479e-05" iyy="0.00040641427" iyz="1.619246e-05" izz="0.0002867356"/>
    </inertial>
  </link>
  <joint name="r_arm7_wrist_r_joint" type="revolute">
    <parent link="r_arm6_wrist_p_link"/>
    <child link="r_arm7_wrist_r_link"/>
    <origin rpy="0.0 0.0 0.0" xyz="0.0 0.0 -0.055"/>
    <axis xyz="1 0 0"/>
    <limit effort="15.0" lower="-1.3962634015954636" upper="1.3962634015954636" velocity="7.7"/>
    <safety_controller k_position="121.0" k_velocity="540.0" soft_lower_limit="-1.3439035240356338" soft_upper_limit="1.3439035240356338"/>
    <dynamics damping="1.0" friction="0.1"/>
  </joint>
  <link name="r_arm_force_sensor_link">
    <visual name="r_arm_force_sensor_link_vis">
      <geometry>
        <mesh filename="package://human_description/meshes/M92UW/visual/r_arm_force_sensor_link.stl" scale="1e-3 1e-3 1e-3"/>
      </geometry>
      <material name="metal">
        <color rgba="0.85 0.85 0.85 1"/>
      </material>
    </visual>
    <collision name="r_arm_force_sensor_link_col">
      <geometry>
        <mesh filename="package://human_description/meshes/M92UW/collision/r_arm_force_sensor_link.stl" scale="1e-3 1e-3 1e-3"/>
      </geometry>
    </collision>
    <inertial>
      <origin rpy="0.0 0.0 0.0" xyz="-3.6099554e-06 -0.00010782379 -0.01796209"/>
      <mass value="0.18791729"/>
      <inertia ixx="6.7718362e-05" ixy="8.1094726e-09" ixz="-1.4043436e-08" iyy="6.769248e-05" iyz="8.3150825e-08" izz="9.1033288e-05"/>
    </inertial>
  </link>
  <joint name="r_arm_force_sensor_fixed_joint" type="fixed">
    <parent link="r_arm7_wrist_r_link"/>
    <child link="r_arm_force_sensor_link"/>
    <origin rpy="0.0 0.0 0.0" xyz="0.0 0.0 -0.06"/>
    <axis xyz="0 0 1"/>
  </joint>
  <link name="r_end_effector_frame"/>
  <joint name="r_end_effector_fixed_joint" type="fixed">
    <parent link="r_arm_force_sensor_link"/>
    <child link="r_end_effector_frame"/>
    <origin rpy="0 1.5707963 0" xyz="0 0 -0.1784999"/>
    <axis xyz="0 0 1"/>
  </joint>
  <!-- <xacro:property name="joint1_5" value="thumb_tip" /> -->
  <!-- <xacro:property name="joint2_3" value="index_tip" /> -->
  <!-- <xacro:property name="joint3_3" value="middle_tip" /> -->
  <!-- <xacro:property name="joint4_3" value="ring_tip" /> -->
  <!-- <xacro:property name="joint5_3" value="pinky_tip" /> -->
  <link name="l_hand_palm_link">
    <visual name="l_hand_palm_link_vis">
      <geometry>
        <mesh filename="package://human_description/meshes/robot_hands/m92u_hand/visual/l_hand_palm_link.stl" scale="1e-3 1e-3 1e-3"/>
      </geometry>
      <material name="metal">
        <color rgba="0.85 0.85 0.85 1"/>
      </material>
    </visual>
    <collision name="l_hand_palm_link_col">
      <geometry>
        <mesh filename="package://human_description/meshes/robot_hands/m92u_hand/collision/l_hand_palm_link.stl" scale="1e-3 1e-3 1e-3"/>
      </geometry>
    </collision>
    <inertial>
      <origin rpy="0.0 0.0 0.0" xyz="0.0087008868 -0.0023126456 0.074486899"/>
      <mass value="0.61953384"/>
      <inertia ixx="0.0016990604" ixy="-1.2329309e-05" ixz="-4.2118052e-05" iyy="0.0013258756" iyz="-3.0538269e-05" izz="0.00056209513"/>
    </inertial>
  </link>
  <joint name="l_hand_palm_fixed_joint" type="fixed">
    <parent link="l_arm_force_sensor_link"/>
    <child link="l_hand_palm_link"/>
    <origin rpy="3.1415926 0.0 -1.5707963" xyz="0.0 0.0 -0.0402"/>
    <axis xyz="0 0 1"/>
  </joint>
  <link name="l_thumb_cmc_y_link">
    <visual name="l_thumb_cmc_y_link_vis">
      <geometry>
        <mesh filename="package://human_description/meshes/robot_hands/m92u_hand/visual/l_thumb_cmc_y_link.stl" scale="1e-3 1e-3 1e-3"/>
      </geometry>
      <material name="metal">
        <color rgba="0.85 0.85 0.85 1"/>
      </material>
    </visual>
    <collision name="l_thumb_cmc_y_link_col">
      <geometry>
        <mesh filename="package://human_description/meshes/robot_hands/m92u_hand/collision/l_thumb_cmc_y_link.stl" scale="1e-3 1e-3 1e-3"/>
      </geometry>
    </collision>
    <inertial>
      <origin rpy="0.0 0.0 0.0" xyz="0.00013690974 0.004314019 0.0014461036"/>
      <mass value="0.0041682968"/>
      <inertia ixx="1.879066e-07" ixy="2.6648846e-10" ixz="1.9123148e-09" iyy="1.4733887e-07" iyz="-1.0252068e-08" izz="1.6145797e-07"/>
    </inertial>
  </link>
  <joint name="l_thumb_cmc_y_joint" type="revolute">
    <parent link="l_hand_palm_link"/>
    <child link="l_thumb_cmc_y_link"/>
    <origin rpy="0.0 -4.188790133333333e-08 -3.1415926" xyz="0.01285999 -0.030499 0.0422"/>
    <axis xyz="0 0 1"/>
    <limit effort="10.0" lower="0.0" upper="1.5707963267948966" velocity="1.0"/>
    <dynamics damping="1.0" friction="0.1"/>
  </joint>
  <link name="l_thumb_cmc_p_link">
    <visual name="l_thumb_cmc_p_link_vis">
      <geometry>
        <mesh filename="package://human_description/meshes/robot_hands/m92u_hand/visual/l_thumb_cmc_p_link.stl" scale="1e-3 1e-3 1e-3"/>
      </geometry>
      <material name="metal">
        <color rgba="0.85 0.85 0.85 1"/>
      </material>
    </visual>
    <collision name="l_thumb_cmc_p_link_col">
      <geometry>
        <mesh filename="package://human_description/meshes/robot_hands/m92u_hand/collision/l_thumb_cmc_p_link.stl" scale="1e-3 1e-3 1e-3"/>
      </geometry>
    </collision>
    <inertial>
      <origin rpy="0.0 0.0 0.0" xyz="0.0037406309 6.2541125e-05 0.030701447"/>
      <mass value="0.065849672"/>
      <inertia ixx="2.342561e-05" ixy="1.0513129e-08" ixz="-1.2619558e-06" iyy="2.3436847e-05" iyz="-6.1471225e-09" izz="6.0738673e-06"/>
    </inertial>
  </link>
  <joint name="l_thumb_cmc_p_joint" type="revolute">
    <parent link="l_thumb_cmc_y_link"/>
    <child link="l_thumb_cmc_p_link"/>
    <origin rpy="5.235987666666667e-10 -1.0556553987442223 -1.3532846456805554" xyz="-0.002206 0.00998 -0.00125"/>
    <axis xyz="0 1 0"/>
    <limit effort="10.0" lower="0.0" upper="0.9581857593448869" velocity="1.0"/>
    <dynamics damping="1.0" friction="0.1"/>
  </joint>
  <link name="l_thumb_mcp_link">
    <visual name="l_thumb_mcp_link_vis">
      <geometry>
        <mesh filename="package://human_description/meshes/robot_hands/m92u_hand/visual/l_thumb_mcp_link.stl" scale="1e-3 1e-3 1e-3"/>
      </geometry>
      <material name="metal">
        <color rgba="0.85 0.85 0.85 1"/>
      </material>
    </visual>
    <collision name="l_thumb_mcp_link_col">
      <geometry>
        <mesh filename="package://human_description/meshes/robot_hands/m92u_hand/collision/l_thumb_mcp_link.stl" scale="1e-3 1e-3 1e-3"/>
      </geometry>
    </collision>
    <inertial>
      <origin rpy="0.0 0.0 0.0" xyz="0.0041049624 0.00012475893 0.0068045785"/>
      <mass value="0.020626252"/>
      <inertia ixx="2.7725592e-06" ixy="3.2525504e-09" ixz="1.0813275e-07" iyy="2.4303458e-06" iyz="-1.4560537e-09" izz="1.844533e-06"/>
    </inertial>
  </link>
  <joint name="l_thumb_mcp_joint" type="revolute">
    <parent link="l_thumb_cmc_p_link"/>
    <child link="l_thumb_mcp_link"/>
    <origin rpy="0.0 -0.1292803752142889 0.0" xyz="0.0 0.0 0.061208"/>
    <axis xyz="0 1 0"/>
    <limit effort="10.0" lower="0.0" upper="1.2044394994965228" velocity="1.0"/>
    <dynamics damping="1.0" friction="0.1"/>
    <mimic joint="l_thumb_cmc_p_joint" multiplier="1.257" offset="0"/>
  </joint>
  <link name="l_thumb_ip_link">
    <visual name="l_thumb_ip_link_vis">
      <geometry>
        <mesh filename="package://human_description/meshes/robot_hands/m92u_hand/visual/l_thumb_ip_link.stl" scale="1e-3 1e-3 1e-3"/>
      </geometry>
      <material name="metal">
        <color rgba="0.85 0.85 0.85 1"/>
      </material>
    </visual>
    <collision name="l_thumb_ip_link_col">
      <geometry>
        <mesh filename="package://human_description/meshes/robot_hands/m92u_hand/collision/l_thumb_ip_link.stl" scale="1e-3 1e-3 1e-3"/>
      </geometry>
    </collision>
    <inertial>
      <origin rpy="0.0 0.0 0.0" xyz="0.0023012779 5.1945218e-05 0.01155386"/>
      <mass value="0.014682022"/>
      <inertia ixx="1.7598268e-06" ixy="2.1216882e-10" ixz="1.7453019e-07" iyy="1.6243072e-06" iyz="5.4318299e-09" izz="5.5154865e-07"/>
    </inertial>
  </link>
  <joint name="l_thumb_ip_joint" type="revolute">
    <parent link="l_thumb_mcp_link"/>
    <child link="l_thumb_ip_link"/>
    <origin rpy="0.0 0.0 0.0" xyz="0.0 0.0 0.021998"/>
    <axis xyz="0 1 0"/>
    <limit effort="10.0" lower="0.0" upper="0.9668094311789909" velocity="1.0"/>
    <dynamics damping="1.0" friction="0.1"/>
    <mimic joint="l_thumb_cmc_p_joint" multiplier="1.009" offset="0"/>
  </joint>
  <link name="l_index_mcp_link">
    <visual name="l_index_mcp_link_vis">
      <geometry>
        <mesh filename="package://human_description/meshes/robot_hands/m92u_hand/visual/l_index_mcp_link.stl" scale="1e-3 1e-3 1e-3"/>
      </geometry>
      <material name="metal">
        <color rgba="0.85 0.85 0.85 1"/>
      </material>
    </visual>
    <collision name="l_index_mcp_link_col">
      <geometry>
        <mesh filename="package://human_description/meshes/robot_hands/m92u_hand/collision/l_index_mcp_link.stl" scale="1e-3 1e-3 1e-3"/>
      </geometry>
    </collision>
    <inertial>
      <origin rpy="0 0 0" xyz="0.0025630348 -4.5144155e-05 0.015835538"/>
      <mass value="0.019819477"/>
      <inertia ixx="7.968542e-06" ixy="-2.0287697e-09" ixz="1.8656552e-07" iyy="7.7945937e-06" iyz="9.2239096e-09" izz="1.3645148e-06"/>
    </inertial>
  </link>
  <joint name="l_index_mcp_joint" type="revolute">
    <parent link="l_hand_palm_link"/>
    <child link="l_index_mcp_link"/>
    <origin rpy="0.05341929150455556 0.1994370248941111 0.010576695086666667" xyz="-0.0098 -0.03646 0.135933"/>
    <axis xyz="0 1 0"/>
    <limit effort="10.0" lower="0.0" upper="1.509709802975095" velocity="1.0"/>
    <dynamics damping="1.0" friction="0.1"/>
  </joint>
  <link name="l_index_pip_link">
    <visual name="l_index_pip_link_vis">
      <geometry>
        <mesh filename="package://human_description/meshes/robot_hands/m92u_hand/visual/l_index_pip_link.stl" scale="1e-3 1e-3 1e-3"/>
      </geometry>
      <material name="metal">
        <color rgba="0.85 0.85 0.85 1"/>
      </material>
    </visual>
    <collision name="l_index_pip_link_col">
      <geometry>
        <mesh filename="package://human_description/meshes/robot_hands/m92u_hand/collision/l_index_pip_link.stl" scale="1e-3 1e-3 1e-3"/>
      </geometry>
    </collision>
    <inertial>
      <origin rpy="0 0 0" xyz="-0.0034042799 4.7762295e-05 0.01800778"/>
      <mass value="0.014898956"/>
      <inertia ixx="4.0728035e-06" ixy="-4.5175385e-10" ixz="-1.3605185e-07" iyy="3.9952123e-06" iyz="7.1198886e-09" izz="5.2116681e-07"/>
    </inertial>
  </link>
  <joint name="l_index_pip_joint" type="revolute">
    <parent link="l_index_mcp_link"/>
    <child link="l_index_pip_link"/>
    <origin rpy="0.0 -0.05016320530757778 0.0" xyz="0.0 0.0 0.0310058"/>
    <axis xyz="0 1 0"/>
    <limit effort="10.0" lower="0.0" upper="1.486308428364355" velocity="1.0"/>
    <dynamics damping="1.0" friction="0.1"/>
    <mimic joint="l_index_mcp_joint" multiplier="0.9845" offset="0"/>
  </joint>
  <link name="l_middle_mcp_link">
    <visual name="l_middle_mcp_link_vis">
      <geometry>
        <mesh filename="package://human_description/meshes/robot_hands/m92u_hand/visual/l_middle_mcp_link.stl" scale="1e-3 1e-3 1e-3"/>
      </geometry>
      <material name="metal">
        <color rgba="0.85 0.85 0.85 1"/>
      </material>
    </visual>
    <collision name="l_middle_mcp_link_col">
      <geometry>
        <mesh filename="package://human_description/meshes/robot_hands/m92u_hand/collision/l_middle_mcp_link.stl" scale="1e-3 1e-3 1e-3"/>
      </geometry>
    </collision>
    <inertial>
      <origin rpy="0 0 0" xyz="0.0025630348 -4.5144155e-05 0.015835538"/>
      <mass value="0.019819477"/>
      <inertia ixx="7.968542e-06" ixy="-2.0287697e-09" ixz="1.8656552e-07" iyy="7.7945937e-06" iyz="9.2239096e-09" izz="1.3645148e-06"/>
    </inertial>
  </link>
  <joint name="l_middle_mcp_joint" type="revolute">
    <parent link="l_hand_palm_link"/>
    <child link="l_middle_mcp_link"/>
    <origin rpy="0.0 0.19971453224044444 0.0" xyz="-0.0098 -0.011 0.1370999"/>
    <axis xyz="0 1 0"/>
    <limit effort="10.0" lower="0.0" upper="1.509709802975095" velocity="1.0"/>
    <dynamics damping="1.0" friction="0.1"/>
  </joint>
  <link name="l_middle_pip_link">
    <visual name="l_middle_pip_link_vis">
      <geometry>
        <mesh filename="package://human_description/meshes/robot_hands/m92u_hand/visual/l_middle_pip_link.stl" scale="1e-3 1e-3 1e-3"/>
      </geometry>
      <material name="metal">
        <color rgba="0.85 0.85 0.85 1"/>
      </material>
    </visual>
    <collision name="l_middle_pip_link_col">
      <geometry>
        <mesh filename="package://human_description/meshes/robot_hands/m92u_hand/collision/l_middle_pip_link.stl" scale="1e-3 1e-3 1e-3"/>
      </geometry>
    </collision>
    <inertial>
      <origin rpy="0 0 0" xyz="-0.0034042799 4.7762295e-05 0.01800778"/>
      <mass value="0.014898956"/>
      <inertia ixx="4.0728035e-06" ixy="-4.5175385e-10" ixz="-1.3605185e-07" iyy="3.9952123e-06" iyz="7.1198886e-09" izz="5.2116681e-07"/>
    </inertial>
  </link>
  <joint name="l_middle_pip_joint" type="revolute">
    <parent link="l_middle_mcp_link"/>
    <child link="l_middle_pip_link"/>
    <origin rpy="0.0 -0.05016320530757778 0.0" xyz="0.0 0.0 0.0310058"/>
    <axis xyz="0 1 0"/>
    <limit effort="10.0" lower="0.0" upper="1.486308428364355" velocity="1.0"/>
    <dynamics damping="1.0" friction="0.1"/>
    <mimic joint="l_middle_mcp_joint" multiplier="0.9845" offset="0"/>
  </joint>
  <link name="l_ring_mcp_link">
    <visual name="l_ring_mcp_link_vis">
      <geometry>
        <mesh filename="package://human_description/meshes/robot_hands/m92u_hand/visual/l_ring_mcp_link.stl" scale="1e-3 1e-3 1e-3"/>
      </geometry>
      <material name="metal">
        <color rgba="0.85 0.85 0.85 1"/>
      </material>
    </visual>
    <collision name="l_ring_mcp_link_col">
      <geometry>
        <mesh filename="package://human_description/meshes/robot_hands/m92u_hand/collision/l_ring_mcp_link.stl" scale="1e-3 1e-3 1e-3"/>
      </geometry>
    </collision>
    <inertial>
      <origin rpy="0 0 0" xyz="0.0025630348 -4.5144155e-05 0.015835538"/>
      <mass value="0.019819477"/>
      <inertia ixx="7.968542e-06" ixy="-2.0287697e-09" ixz="1.8656552e-07" iyy="7.7945937e-06" iyz="9.2239096e-09" izz="1.3645148e-06"/>
    </inertial>
  </link>
  <joint name="l_ring_mcp_joint" type="revolute">
    <parent link="l_hand_palm_link"/>
    <child link="l_ring_mcp_link"/>
    <origin rpy="-0.05341929150455556 0.1994370248941111 -0.010592403049666667" xyz="-0.0098 0.01451377 0.13693"/>
    <axis xyz="0 1 0"/>
    <limit effort="10.0" lower="0.0" upper="1.509709802975095" velocity="1.0"/>
    <dynamics damping="1.0" friction="0.1"/>
  </joint>
  <link name="l_ring_pip_link">
    <visual name="l_ring_pip_link_vis">
      <geometry>
        <mesh filename="package://human_description/meshes/robot_hands/m92u_hand/visual/l_ring_pip_link.stl" scale="1e-3 1e-3 1e-3"/>
      </geometry>
      <material name="metal">
        <color rgba="0.85 0.85 0.85 1"/>
      </material>
    </visual>
    <collision name="l_ring_pip_link_col">
      <geometry>
        <mesh filename="package://human_description/meshes/robot_hands/m92u_hand/collision/l_ring_pip_link.stl" scale="1e-3 1e-3 1e-3"/>
      </geometry>
    </collision>
    <inertial>
      <origin rpy="0 0 0" xyz="-0.0034042799 4.7762295e-05 0.01800778"/>
      <mass value="0.014898956"/>
      <inertia ixx="4.0728035e-06" ixy="-4.5175385e-10" ixz="-1.3605185e-07" iyy="3.9952123e-06" iyz="7.1198886e-09" izz="5.2116681e-07"/>
    </inertial>
  </link>
  <joint name="l_ring_pip_joint" type="revolute">
    <parent link="l_ring_mcp_link"/>
    <child link="l_ring_pip_link"/>
    <origin rpy="0.0 -0.05016320530757778 0.0" xyz="0.0 0.0 0.0310058"/>
    <axis xyz="0 1 0"/>
    <limit effort="10.0" lower="0.0" upper="1.486308428364355" velocity="1.0"/>
    <dynamics damping="1.0" friction="0.1"/>
    <mimic joint="l_ring_mcp_joint" multiplier="0.9845" offset="0"/>
  </joint>
  <link name="l_pinky_mcp_link">
    <visual name="l_pinky_mcp_link_vis">
      <geometry>
        <mesh filename="package://human_description/meshes/robot_hands/m92u_hand/visual/l_pinky_mcp_link.stl" scale="1e-3 1e-3 1e-3"/>
      </geometry>
      <material name="metal">
        <color rgba="0.85 0.85 0.85 1"/>
      </material>
    </visual>
    <collision name="l_pinky_mcp_link_col">
      <geometry>
        <mesh filename="package://human_description/meshes/robot_hands/m92u_hand/collision/l_pinky_mcp_link.stl" scale="1e-3 1e-3 1e-3"/>
      </geometry>
    </collision>
    <inertial>
      <origin rpy="0 0 0" xyz="0.0025630348 -4.5144155e-05 0.015835538"/>
      <mass value="0.019819477"/>
      <inertia ixx="7.968542e-06" ixy="-2.0287697e-09" ixz="1.8656552e-07" iyy="7.7945937e-06" iyz="9.2239096e-09" izz="1.3645148e-06"/>
    </inertial>
  </link>
  <joint name="l_pinky_mcp_joint" type="revolute">
    <parent link="l_hand_palm_link"/>
    <child link="l_pinky_mcp_link"/>
    <origin rpy="-0.1068141484 0.19860101219666665 -0.021153390173333335" xyz="-0.0098 0.039853 0.133934"/>
    <axis xyz="0 1 0"/>
    <limit effort="10.0" lower="0.0" upper="1.509709802975095" velocity="1.0"/>
    <dynamics damping="1.0" friction="0.1"/>
  </joint>
  <link name="l_pinky_pip_link">
    <visual name="l_pinky_pip_link_vis">
      <geometry>
        <mesh filename="package://human_description/meshes/robot_hands/m92u_hand/visual/l_pinky_pip_link.stl" scale="1e-3 1e-3 1e-3"/>
      </geometry>
      <material name="metal">
        <color rgba="0.85 0.85 0.85 1"/>
      </material>
    </visual>
    <collision name="l_pinky_pip_link_col">
      <geometry>
        <mesh filename="package://human_description/meshes/robot_hands/m92u_hand/collision/l_pinky_pip_link.stl" scale="1e-3 1e-3 1e-3"/>
      </geometry>
    </collision>
    <inertial>
      <origin rpy="0 0 0" xyz="-0.0034042799 4.7762295e-05 0.01800778"/>
      <mass value="0.014898956"/>
      <inertia ixx="4.0728035e-06" ixy="-4.5175385e-10" ixz="-1.3605185e-07" iyy="3.9952123e-06" iyz="7.1198886e-09" izz="5.2116681e-07"/>
    </inertial>
  </link>
  <joint name="l_pinky_pip_joint" type="revolute">
    <parent link="l_pinky_mcp_link"/>
    <child link="l_pinky_pip_link"/>
    <origin rpy="0.0 -0.05016320530757778 0.0" xyz="0.0 0.0 0.0310058"/>
    <axis xyz="0 1 0"/>
    <limit effort="10.0" lower="0.0" upper="1.486308428364355" velocity="1.0"/>
    <dynamics damping="1.0" friction="0.1"/>
    <mimic joint="l_pinky_mcp_joint" multiplier="0.9845" offset="0"/>
  </joint>
  <!-- <xacro:property name="joint1_5" value="thumb_tip" /> -->
  <!-- <xacro:property name="joint2_3" value="index_tip" /> -->
  <!-- <xacro:property name="joint3_3" value="middle_tip" /> -->
  <!-- <xacro:property name="joint4_3" value="ring_tip" /> -->
  <!-- <xacro:property name="joint5_3" value="pinky_tip" /> -->
  <link name="r_hand_palm_link">
    <visual name="r_hand_palm_link_vis">
      <geometry>
        <mesh filename="package://human_description/meshes/robot_hands/m92u_hand/visual/r_hand_palm_link.stl" scale="1e-3 1e-3 1e-3"/>
      </geometry>
      <material name="metal">
        <color rgba="0.85 0.85 0.85 1"/>
      </material>
    </visual>
    <collision name="r_hand_palm_link_col">
      <geometry>
        <mesh filename="package://human_description/meshes/robot_hands/m92u_hand/collision/r_hand_palm_link.stl" scale="1e-3 1e-3 1e-3"/>
      </geometry>
    </collision>
    <inertial>
      <origin rpy="0.0 0.0 0.0" xyz="-0.0087008868 -0.0023126456 0.074486899"/>
      <mass value="0.61953384"/>
      <inertia ixx="0.0016990604" ixy="1.2329309e-05" ixz="4.2118052e-05" iyy="0.0013258756" iyz="-3.0538269e-05" izz="0.00056209513"/>
    </inertial>
  </link>
  <joint name="r_hand_palm_fixed_joint" type="fixed">
    <parent link="r_arm_force_sensor_link"/>
    <child link="r_hand_palm_link"/>
    <origin rpy="3.1415926 0.0 1.5707963" xyz="0.0 0.0 -0.0402"/>
    <axis xyz="0 0 1"/>
  </joint>
  <link name="r_thumb_cmc_y_link">
    <visual name="r_thumb_cmc_y_link_vis">
      <geometry>
        <mesh filename="package://human_description/meshes/robot_hands/m92u_hand/visual/r_thumb_cmc_y_link.stl" scale="1e-3 1e-3 1e-3"/>
      </geometry>
      <material name="metal">
        <color rgba="0.85 0.85 0.85 1"/>
      </material>
    </visual>
    <collision name="r_thumb_cmc_y_link_col">
      <geometry>
        <mesh filename="package://human_description/meshes/robot_hands/m92u_hand/collision/r_thumb_cmc_y_link.stl" scale="1e-3 1e-3 1e-3"/>
      </geometry>
    </collision>
    <inertial>
      <origin rpy="0.0 0.0 0.0" xyz="-0.00013690974 0.004314019 0.0014461036"/>
      <mass value="0.0041682968"/>
      <inertia ixx="1.879066e-07" ixy="-2.6648846e-10" ixz="-1.9123148e-09" iyy="1.4733887e-07" iyz="-1.0252068e-08" izz="1.6145797e-07"/>
    </inertial>
  </link>
  <joint name="r_thumb_cmc_y_joint" type="revolute">
    <parent link="r_hand_palm_link"/>
    <child link="r_thumb_cmc_y_link"/>
    <origin rpy="3.1415926 4.188790133333333e-08 3.1415926" xyz="0.01285999 0.030499 0.0422"/>
    <axis xyz="0 0 1"/>
    <limit effort="10.0" lower="0.0" upper="1.5707963267948966" velocity="1.0"/>
    <dynamics damping="1.0" friction="0.1"/>
  </joint>
  <link name="r_thumb_cmc_p_link">
    <visual name="r_thumb_cmc_p_link_vis">
      <geometry>
        <mesh filename="package://human_description/meshes/robot_hands/m92u_hand/visual/r_thumb_cmc_p_link.stl" scale="1e-3 1e-3 1e-3"/>
      </geometry>
      <material name="metal">
        <color rgba="0.85 0.85 0.85 1"/>
      </material>
    </visual>
    <collision name="r_thumb_cmc_p_link_col">
      <geometry>
        <mesh filename="package://human_description/meshes/robot_hands/m92u_hand/collision/r_thumb_cmc_p_link.stl" scale="1e-3 1e-3 1e-3"/>
      </geometry>
    </collision>
    <inertial>
      <origin rpy="0.0 0.0 0.0" xyz="0.0037406309 6.2541125e-05 0.030701447"/>
      <mass value="0.065849672"/>
      <inertia ixx="2.342561e-05" ixy="1.0513129e-08" ixz="-1.2619558e-06" iyy="2.3436847e-05" iyz="-6.1471225e-09" izz="6.0738673e-06"/>
    </inertial>
  </link>
  <joint name="r_thumb_cmc_p_joint" type="revolute">
    <parent link="r_thumb_cmc_y_link"/>
    <child link="r_thumb_cmc_p_link"/>
    <origin rpy="3.1415926 1.0556553987442223 -1.3532846456805554" xyz="-0.002206 0.00998 0.00125"/>
    <axis xyz="0 1 0"/>
    <limit effort="10.0" lower="0.0" upper="0.9581857593448869" velocity="1.0"/>
    <dynamics damping="1.0" friction="0.1"/>
  </joint>
  <link name="r_thumb_mcp_link">
    <visual name="r_thumb_mcp_link_vis">
      <geometry>
        <mesh filename="package://human_description/meshes/robot_hands/m92u_hand/visual/r_thumb_mcp_link.stl" scale="1e-3 1e-3 1e-3"/>
      </geometry>
      <material name="metal">
        <color rgba="0.85 0.85 0.85 1"/>
      </material>
    </visual>
    <collision name="r_thumb_mcp_link_col">
      <geometry>
        <mesh filename="package://human_description/meshes/robot_hands/m92u_hand/collision/r_thumb_mcp_link.stl" scale="1e-3 1e-3 1e-3"/>
      </geometry>
    </collision>
    <inertial>
      <origin rpy="0.0 0.0 0.0" xyz="0.0041049624 0.00012475893 0.0068045785"/>
      <mass value="0.020626252"/>
      <inertia ixx="2.7725592e-06" ixy="3.2525504e-09" ixz="1.0813275e-07" iyy="2.4303458e-06" iyz="-1.4560537e-09" izz="1.844533e-06"/>
    </inertial>
  </link>
  <joint name="r_thumb_mcp_joint" type="revolute">
    <parent link="r_thumb_cmc_p_link"/>
    <child link="r_thumb_mcp_link"/>
    <origin rpy="0.0 -0.1292803752142889 0.0" xyz="0.0 0.0 0.061208"/>
    <axis xyz="0 1 0"/>
    <limit effort="10.0" lower="0.0" upper="1.2044394994965228" velocity="1.0"/>
    <dynamics damping="1.0" friction="0.1"/>
    <mimic joint="r_thumb_cmc_p_joint" multiplier="1.257" offset="0"/>
  </joint>
  <link name="r_thumb_ip_link">
    <visual name="r_thumb_ip_link_vis">
      <geometry>
        <mesh filename="package://human_description/meshes/robot_hands/m92u_hand/visual/r_thumb_ip_link.stl" scale="1e-3 1e-3 1e-3"/>
      </geometry>
      <material name="metal">
        <color rgba="0.85 0.85 0.85 1"/>
      </material>
    </visual>
    <collision name="r_thumb_ip_link_col">
      <geometry>
        <mesh filename="package://human_description/meshes/robot_hands/m92u_hand/collision/r_thumb_ip_link.stl" scale="1e-3 1e-3 1e-3"/>
      </geometry>
    </collision>
    <inertial>
      <origin rpy="0.0 0.0 0.0" xyz="0.0023012779 5.1945218e-05 0.01155386"/>
      <mass value="0.014682022"/>
      <inertia ixx="1.7598268e-06" ixy="2.1216882e-10" ixz="1.7453019e-07" iyy="1.6243072e-06" iyz="5.4318299e-09" izz="5.5154865e-07"/>
    </inertial>
  </link>
  <joint name="r_thumb_ip_joint" type="revolute">
    <parent link="r_thumb_mcp_link"/>
    <child link="r_thumb_ip_link"/>
    <origin rpy="0.0 0.0 0.0" xyz="0.0 0.0 0.021998"/>
    <axis xyz="0 1 0"/>
    <limit effort="10.0" lower="0.0" upper="0.9668094311789909" velocity="1.0"/>
    <dynamics damping="1.0" friction="0.1"/>
    <mimic joint="r_thumb_cmc_p_joint" multiplier="1.009" offset="0"/>
  </joint>
  <link name="r_index_mcp_link">
    <visual name="r_index_mcp_link_vis">
      <geometry>
        <mesh filename="package://human_description/meshes/robot_hands/m92u_hand/visual/r_index_mcp_link.stl" scale="1e-3 1e-3 1e-3"/>
      </geometry>
      <material name="metal">
        <color rgba="0.85 0.85 0.85 1"/>
      </material>
    </visual>
    <collision name="r_index_mcp_link_col">
      <geometry>
        <mesh filename="package://human_description/meshes/robot_hands/m92u_hand/collision/r_index_mcp_link.stl" scale="1e-3 1e-3 1e-3"/>
      </geometry>
    </collision>
    <inertial>
      <origin rpy="0 0 0" xyz="-0.0025630348 4.5144155e-05 0.015835538"/>
      <mass value="0.019819477"/>
      <inertia ixx="7.968542e-06" ixy="-2.0287697e-09" ixz="-1.8656552e-07" iyy="7.7945937e-06" iyz="-9.2239096e-09" izz="1.3645148e-06"/>
    </inertial>
  </link>
  <joint name="r_index_mcp_joint" type="revolute">
    <parent link="r_hand_palm_link"/>
    <child link="r_index_mcp_link"/>
    <origin rpy="-0.05341929150455556 0.1994370248941111 -0.010576695086666667" xyz="-0.0098 0.03651 0.1371306"/>
    <axis xyz="0 1 0"/>
    <limit effort="10.0" lower="0.0" upper="1.509709802975095" velocity="1.0"/>
    <dynamics damping="1.0" friction="0.1"/>
  </joint>
  <link name="r_index_pip_link">
    <visual name="r_index_pip_link_vis">
      <geometry>
        <mesh filename="package://human_description/meshes/robot_hands/m92u_hand/visual/r_index_pip_link.stl" scale="1e-3 1e-3 1e-3"/>
      </geometry>
      <material name="metal">
        <color rgba="0.85 0.85 0.85 1"/>
      </material>
    </visual>
    <collision name="r_index_pip_link_col">
      <geometry>
        <mesh filename="package://human_description/meshes/robot_hands/m92u_hand/collision/r_index_pip_link.stl" scale="1e-3 1e-3 1e-3"/>
      </geometry>
    </collision>
    <inertial>
      <origin rpy="0 0 0" xyz="-0.0034042799 4.7762295e-05 0.01800778"/>
      <mass value="0.014898956"/>
      <inertia ixx="4.0728035e-06" ixy="-4.5175385e-10" ixz="-1.3605185e-07" iyy="3.9952123e-06" iyz="7.1198886e-09" izz="5.2116681e-07"/>
    </inertial>
  </link>
  <joint name="r_index_pip_joint" type="revolute">
    <parent link="r_index_mcp_link"/>
    <child link="r_index_pip_link"/>
    <origin rpy="0.0 0.05016320530757778 0.0" xyz="0.0 0.0 0.0310058"/>
    <axis xyz="0 1 0"/>
    <limit effort="10.0" lower="0.0" upper="1.486308428364355" velocity="1.0"/>
    <dynamics damping="1.0" friction="0.1"/>
    <mimic joint="r_index_mcp_joint" multiplier="0.9845" offset="0"/>
  </joint>
  <link name="r_middle_mcp_link">
    <visual name="r_middle_mcp_link_vis">
      <geometry>
        <mesh filename="package://human_description/meshes/robot_hands/m92u_hand/visual/r_middle_mcp_link.stl" scale="1e-3 1e-3 1e-3"/>
      </geometry>
      <material name="metal">
        <color rgba="0.85 0.85 0.85 1"/>
      </material>
    </visual>
    <collision name="r_middle_mcp_link_col">
      <geometry>
        <mesh filename="package://human_description/meshes/robot_hands/m92u_hand/collision/r_middle_mcp_link.stl" scale="1e-3 1e-3 1e-3"/>
      </geometry>
    </collision>
    <inertial>
      <origin rpy="0 0 0" xyz="-0.0025630348 4.5144155e-05 0.015835538"/>
      <mass value="0.019819477"/>
      <inertia ixx="7.968542e-06" ixy="-2.0287697e-09" ixz="-1.8656552e-07" iyy="7.7945937e-06" iyz="-9.2239096e-09" izz="1.3645148e-06"/>
    </inertial>
  </link>
  <joint name="r_middle_mcp_joint" type="revolute">
    <parent link="r_hand_palm_link"/>
    <child link="r_middle_mcp_link"/>
    <origin rpy="0.0 0.19971453224044444 0.0" xyz="-0.0098 0.0110499 0.1382999"/>
    <axis xyz="0 1 0"/>
    <limit effort="10.0" lower="0.0" upper="1.509709802975095" velocity="1.0"/>
    <dynamics damping="1.0" friction="0.1"/>
  </joint>
  <link name="r_middle_pip_link">
    <visual name="r_middle_pip_link_vis">
      <geometry>
        <mesh filename="package://human_description/meshes/robot_hands/m92u_hand/visual/r_middle_pip_link.stl" scale="1e-3 1e-3 1e-3"/>
      </geometry>
      <material name="metal">
        <color rgba="0.85 0.85 0.85 1"/>
      </material>
    </visual>
    <collision name="r_middle_pip_link_col">
      <geometry>
        <mesh filename="package://human_description/meshes/robot_hands/m92u_hand/collision/r_middle_pip_link.stl" scale="1e-3 1e-3 1e-3"/>
      </geometry>
    </collision>
    <inertial>
      <origin rpy="0 0 0" xyz="-0.0034042799 4.7762295e-05 0.01800778"/>
      <mass value="0.014898956"/>
      <inertia ixx="4.0728035e-06" ixy="-4.5175385e-10" ixz="-1.3605185e-07" iyy="3.9952123e-06" iyz="7.1198886e-09" izz="5.2116681e-07"/>
    </inertial>
  </link>
  <joint name="r_middle_pip_joint" type="revolute">
    <parent link="r_middle_mcp_link"/>
    <child link="r_middle_pip_link"/>
    <origin rpy="0.0 0.05016320530757778 0.0" xyz="0.0 0.0 0.0310058"/>
    <axis xyz="0 1 0"/>
    <limit effort="10.0" lower="0.0" upper="1.486308428364355" velocity="1.0"/>
    <dynamics damping="1.0" friction="0.1"/>
    <mimic joint="r_middle_mcp_joint" multiplier="0.9845" offset="0"/>
  </joint>
  <link name="r_ring_mcp_link">
    <visual name="r_ring_mcp_link_vis">
      <geometry>
        <mesh filename="package://human_description/meshes/robot_hands/m92u_hand/visual/r_ring_mcp_link.stl" scale="1e-3 1e-3 1e-3"/>
      </geometry>
      <material name="metal">
        <color rgba="0.85 0.85 0.85 1"/>
      </material>
    </visual>
    <collision name="r_ring_mcp_link_col">
      <geometry>
        <mesh filename="package://human_description/meshes/robot_hands/m92u_hand/collision/r_ring_mcp_link.stl" scale="1e-3 1e-3 1e-3"/>
      </geometry>
    </collision>
    <inertial>
      <origin rpy="0 0 0" xyz="-0.0025630348 4.5144155e-05 0.015835538"/>
      <mass value="0.019819477"/>
      <inertia ixx="7.968542e-06" ixy="-2.0287697e-09" ixz="-1.8656552e-07" iyy="7.7945937e-06" iyz="-9.2239096e-09" izz="1.3645148e-06"/>
    </inertial>
  </link>
  <joint name="r_ring_mcp_joint" type="revolute">
    <parent link="r_hand_palm_link"/>
    <child link="r_ring_mcp_link"/>
    <origin rpy="0.05341927405126334 0.1994370248941111 0.010592403049666667" xyz="-0.0098 -0.01446388 0.13813451"/>
    <axis xyz="0 1 0"/>
    <limit effort="10.0" lower="0.0" upper="1.509709802975095" velocity="1.0"/>
    <dynamics damping="1.0" friction="0.1"/>
  </joint>
  <link name="r_ring_pip_link">
    <visual name="r_ring_pip_link_vis">
      <geometry>
        <mesh filename="package://human_description/meshes/robot_hands/m92u_hand/visual/r_ring_pip_link.stl" scale="1e-3 1e-3 1e-3"/>
      </geometry>
      <material name="metal">
        <color rgba="0.85 0.85 0.85 1"/>
      </material>
    </visual>
    <collision name="r_ring_pip_link_col">
      <geometry>
        <mesh filename="package://human_description/meshes/robot_hands/m92u_hand/collision/r_ring_pip_link.stl" scale="1e-3 1e-3 1e-3"/>
      </geometry>
    </collision>
    <inertial>
      <origin rpy="0 0 0" xyz="-0.0034042799 4.7762295e-05 0.01800778"/>
      <mass value="0.014898956"/>
      <inertia ixx="4.0728035e-06" ixy="-4.5175385e-10" ixz="-1.3605185e-07" iyy="3.9952123e-06" iyz="7.1198886e-09" izz="5.2116681e-07"/>
    </inertial>
  </link>
  <joint name="r_ring_pip_joint" type="revolute">
    <parent link="r_ring_mcp_link"/>
    <child link="r_ring_pip_link"/>
    <origin rpy="0.0 0.05016320530757778 0.0" xyz="0.0 0.0 0.0310058"/>
    <axis xyz="0 1 0"/>
    <limit effort="10.0" lower="0.0" upper="1.486308428364355" velocity="1.0"/>
    <dynamics damping="1.0" friction="0.1"/>
    <mimic joint="r_ring_mcp_joint" multiplier="0.9845" offset="0"/>
  </joint>
  <link name="r_pinky_mcp_link">
    <visual name="r_pinky_mcp_link_vis">
      <geometry>
        <mesh filename="package://human_description/meshes/robot_hands/m92u_hand/visual/r_pinky_mcp_link.stl" scale="1e-3 1e-3 1e-3"/>
      </geometry>
      <material name="metal">
        <color rgba="0.85 0.85 0.85 1"/>
      </material>
    </visual>
    <collision name="r_pinky_mcp_link_col">
      <geometry>
        <mesh filename="package://human_description/meshes/robot_hands/m92u_hand/collision/r_pinky_mcp_link.stl" scale="1e-3 1e-3 1e-3"/>
      </geometry>
    </collision>
    <inertial>
      <origin rpy="0 0 0" xyz="-0.0025630348 4.5144155e-05 0.015835538"/>
      <mass value="0.019819477"/>
      <inertia ixx="7.968542e-06" ixy="-2.0287697e-09" ixz="-1.8656552e-07" iyy="7.7945937e-06" iyz="-9.2239096e-09" izz="1.3645148e-06"/>
    </inertial>
  </link>
  <joint name="r_pinky_mcp_joint" type="revolute">
    <parent link="r_hand_palm_link"/>
    <child link="r_pinky_mcp_link"/>
    <origin rpy="0.1068141484 0.19860101219666665 0.021153390173333335" xyz="-0.0098 -0.0398034 0.13514012"/>
    <axis xyz="0 1 0"/>
    <limit effort="10.0" lower="0.0" upper="1.509709802975095" velocity="1.0"/>
    <dynamics damping="1.0" friction="0.1"/>
  </joint>
  <link name="r_pinky_pip_link">
    <visual name="r_pinky_pip_link_vis">
      <geometry>
        <mesh filename="package://human_description/meshes/robot_hands/m92u_hand/visual/r_pinky_pip_link.stl" scale="1e-3 1e-3 1e-3"/>
      </geometry>
      <material name="metal">
        <color rgba="0.85 0.85 0.85 1"/>
      </material>
    </visual>
    <collision name="r_pinky_pip_link_col">
      <geometry>
        <mesh filename="package://human_description/meshes/robot_hands/m92u_hand/collision/r_pinky_pip_link.stl" scale="1e-3 1e-3 1e-3"/>
      </geometry>
    </collision>
    <inertial>
      <origin rpy="0 0 0" xyz="-0.0034042799 4.7762295e-05 0.01800778"/>
      <mass value="0.014898956"/>
      <inertia ixx="4.0728035e-06" ixy="-4.5175385e-10" ixz="-1.3605185e-07" iyy="3.9952123e-06" iyz="7.1198886e-09" izz="5.2116681e-07"/>
    </inertial>
  </link>
  <joint name="r_pinky_pip_joint" type="revolute">
    <parent link="r_pinky_mcp_link"/>
    <child link="r_pinky_pip_link"/>
    <origin rpy="0.0 0.05016320530757778 0.0" xyz="0.0 0.0 0.0310058"/>
    <axis xyz="0 1 0"/>
    <limit effort="10.0" lower="0.0" upper="1.486308428364355" velocity="1.0"/>
    <dynamics damping="1.0" friction="0.1"/>
    <mimic joint="r_pinky_mcp_joint" multiplier="0.9845" offset="0"/>
  </joint>
  <link name="head_front_left_fisheye_color_frame"/>
  <joint name="head_front_left_fisheye_color_joint" type="fixed">
    <parent link="head2_p_link"/>
    <child link="head_front_left_fisheye_color_frame"/>
    <origin rpy="0.0 0.034906558 0.0" xyz="0.11560924285 0.03 0.001949777401"/>
    <axis xyz="0 0 1"/>
  </joint>
  <link name="head_front_left_fisheye_color_optical_frame"/>
  <joint name="head_front_left_fisheye_color_optical_joint" type="fixed">
    <parent link="head_front_left_fisheye_color_frame"/>
    <child link="head_front_left_fisheye_color_optical_frame"/>
    <origin rpy="-1.5707963267948966 0.0 -1.5707963267948966" xyz="0.0 0.0 0.0"/>
    <axis xyz="0 0 1"/>
  </joint>
  <link name="head_front_right_fisheye_color_frame"/>
  <joint name="head_front_right_fisheye_color_joint" type="fixed">
    <parent link="head2_p_link"/>
    <child link="head_front_right_fisheye_color_frame"/>
    <origin rpy="0.0 0.034906558 0.0" xyz="0.11560924285 -0.03 0.001949777401"/>
    <axis xyz="0 0 1"/>
  </joint>
  <link name="head_front_right_fisheye_color_optical_frame"/>
  <joint name="head_front_right_fisheye_color_optical_joint" type="fixed">
    <parent link="head_front_right_fisheye_color_frame"/>
    <child link="head_front_right_fisheye_color_optical_frame"/>
    <origin rpy="-1.5707963267948966 0.0 -1.5707963267948966" xyz="0.0 0.0 0.0"/>
    <axis xyz="0 0 1"/>
  </joint>
  <link name="head_left_fisheye_color_frame"/>
  <joint name="head_left_fisheye_color_joint" type="fixed">
    <parent link="head2_p_link"/>
    <child link="head_left_fisheye_color_frame"/>
    <origin rpy="-0.22689279888888889 0.0 1.5707963" xyz="8e-05 0.079054996528 0.068"/>
    <axis xyz="0 0 1"/>
  </joint>
  <link name="head_left_fisheye_color_optical_frame"/>
  <joint name="head_left_fisheye_color_optical_joint" type="fixed">
    <parent link="head_left_fisheye_color_frame"/>
    <child link="head_left_fisheye_color_optical_frame"/>
    <origin rpy="-1.5707963267948966 0.0 -1.5707963267948966" xyz="0.0 0.0 0.0"/>
    <axis xyz="0 0 1"/>
  </joint>
  <link name="head_right_fisheye_color_frame"/>
  <joint name="head_right_fisheye_color_joint" type="fixed">
    <parent link="head2_p_link"/>
    <child link="head_right_fisheye_color_frame"/>
    <origin rpy="0.22689279888888889 0.0 -1.5707963" xyz="8e-05 -0.079054996528 0.068"/>
    <axis xyz="0 0 1"/>
  </joint>
  <link name="head_right_fisheye_color_optical_frame"/>
  <joint name="head_right_fisheye_color_optical_joint" type="fixed">
    <parent link="head_right_fisheye_color_frame"/>
    <child link="head_right_fisheye_color_optical_frame"/>
    <origin rpy="-1.5707963267948966 0.0 -1.5707963267948966" xyz="0.0 0.0 0.0"/>
    <axis xyz="0 0 1"/>
  </joint>
  <link name="head_realsense_frame"/>
  <joint name="head_realsense_joint" type="fixed">
    <parent link="head2_p_link"/>
    <child link="head_realsense_frame"/>
    <origin rpy="0.0 0.6108652277777777 0.0" xyz="0.087368495194 0.0 -0.027541394905"/>
    <axis xyz="0 0 1"/>
  </joint>
  <!-- camera body, with origin at bottom screw mount -->
  <joint name="head_camera_joint" type="fixed">
    <origin rpy="0 0 0" xyz="0 0 0"/>
    <parent link="head_realsense_frame"/>
    <child link="head_camera_bottom_screw_frame"/>
  </joint>
  <link name="head_camera_bottom_screw_frame"/>
  <joint name="head_camera_link_joint" type="fixed">
    <origin rpy="0 0 0" xyz="0.010600000000000002 0.0175 0.0125"/>
    <parent link="head_camera_bottom_screw_frame"/>
    <child link="head_camera_link"/>
  </joint>
  <link name="head_camera_link">
    <visual name="head_camera_link_vis">
      <!-- the mesh origin is at front plate in between the two infrared camera axes -->
      <origin rpy="0 0 0" xyz="0.0043 -0.0175 0"/>
      <geometry>
        <mesh filename="package://human_description/meshes/camera/d435.stl"/>
      </geometry>
      <material name="aluminum">
        <color rgba="0.5 0.5 0.5 1"/>
      </material>
    </visual>
    <collision name="head_camera_link_col">
      <origin rpy="0 0 0" xyz="-0.0043 -0.0175 0"/>
      <geometry>
        <box size="0.02505 0.09 0.025"/>
      </geometry>
    </collision>
    <inertial>
      <!-- The following are not reliable values, and should not be used for modeling -->
      <mass value="0.072"/>
      <origin rpy="0 0 0" xyz="-0.0043 -0.0175 0"/>
      <inertia ixx="4.41106250E-05" ixy="2.63787168E-07" ixz="2.62460083E-08" iyy="6.59575833E-06" iyz="-3.13712429E-09" izz="4.44598902E-05"/>
    </inertial>
  </link>
  <!-- camera depth joints and links -->
  <joint name="head_camera_depth_joint" type="fixed">
    <origin rpy="0 0 0" xyz="0 0 0"/>
    <parent link="head_camera_link"/>
    <child link="head_camera_depth_frame"/>
  </joint>
  <link name="head_camera_depth_frame"/>
  <joint name="head_camera_depth_optical_joint" type="fixed">
    <origin rpy="-1.5707963267948966 0 -1.5707963267948966" xyz="0 0 0"/>
    <parent link="head_camera_depth_frame"/>
    <child link="head_camera_depth_optical_frame"/>
  </joint>
  <link name="head_camera_depth_optical_frame"/>
  <!-- camera left IR joints and links -->
  <joint name="head_camera_infra1_joint" type="fixed">
    <origin rpy="0 0 0" xyz="0 0.0 0"/>
    <parent link="head_camera_link"/>
    <child link="head_camera_infra1_frame"/>
  </joint>
  <link name="head_camera_infra1_frame"/>
  <joint name="head_camera_infra1_optical_joint" type="fixed">
    <origin rpy="-1.5707963267948966 0 -1.5707963267948966" xyz="0 0 0"/>
    <parent link="head_camera_infra1_frame"/>
    <child link="head_camera_infra1_optical_frame"/>
  </joint>
  <link name="head_camera_infra1_optical_frame"/>
  <!-- camera right IR joints and links -->
  <joint name="head_camera_infra2_joint" type="fixed">
    <origin rpy="0 0 0" xyz="0 -0.05 0"/>
    <parent link="head_camera_link"/>
    <child link="head_camera_infra2_frame"/>
  </joint>
  <link name="head_camera_infra2_frame"/>
  <joint name="head_camera_infra2_optical_joint" type="fixed">
    <origin rpy="-1.5707963267948966 0 -1.5707963267948966" xyz="0 0 0"/>
    <parent link="head_camera_infra2_frame"/>
    <child link="head_camera_infra2_optical_frame"/>
  </joint>
  <link name="head_camera_infra2_optical_frame"/>
  <!-- camera color joints and links -->
  <joint name="head_camera_color_joint" type="fixed">
    <origin rpy="0 0 0" xyz="0 0.015 0"/>
    <parent link="head_camera_link"/>
    <child link="head_camera_color_frame"/>
  </joint>
  <link name="head_camera_color_frame"/>
  <joint name="head_camera_color_optical_joint" type="fixed">
    <origin rpy="-1.5707963267948966 0 -1.5707963267948966" xyz="0 0 0"/>
    <parent link="head_camera_color_frame"/>
    <child link="head_camera_color_optical_frame"/>
  </joint>
  <link name="head_camera_color_optical_frame"/>
  <link name="head_camera_accel_frame"/>
  <link name="head_camera_accel_optical_frame"/>
  <link name="head_camera_gyro_frame"/>
  <link name="head_camera_gyro_optical_frame"/>
  <joint name="head_camera_accel_joint" type="fixed">
    <origin rpy="0 0 0" xyz="-0.01174 -0.00552 0.0051"/>
    <parent link="head_camera_link"/>
    <child link="head_camera_accel_frame"/>
  </joint>
  <joint name="head_camera_accel_optical_joint" type="fixed">
    <origin rpy="-1.5707963267948966 0 -1.5707963267948966" xyz="0 0 0"/>
    <parent link="head_camera_accel_frame"/>
    <child link="head_camera_accel_optical_frame"/>
  </joint>
  <joint name="head_camera_gyro_joint" type="fixed">
    <origin rpy="0 0 0" xyz="-0.01174 -0.00552 0.0051"/>
    <parent link="head_camera_link"/>
    <child link="head_camera_gyro_frame"/>
  </joint>
  <joint name="head_camera_gyro_optical_joint" type="fixed">
    <origin rpy="-1.5707963267948966 0 -1.5707963267948966" xyz="0 0 0"/>
    <parent link="head_camera_gyro_frame"/>
    <child link="head_camera_gyro_optical_frame"/>
  </joint>
  <link name="l_wrist_camera1_color_frame">
    <visual name="l_wrist_camera1_color_frame_vis">
      <geometry>
        <mesh filename="package://human_description/meshes/M92UW/visual/l_wrist_camera1_color_frame.stl" scale="1e-3 1e-3 1e-3"/>
      </geometry>
      <material name="metal">
        <color rgba="0.85 0.85 0.85 1"/>
      </material>
    </visual>
    <collision name="l_wrist_camera1_color_frame_col">
      <geometry>
        <mesh filename="package://human_description/meshes/M92UW/collision/l_wrist_camera1_color_frame.stl" scale="1e-3 1e-3 1e-3"/>
      </geometry>
    </collision>
    <inertial>
      <origin rpy="0.0 0.0 0.0" xyz="-0.012285569 0.0087884052 -0.0098946948"/>
      <mass value="0.072932157"/>
      <inertia ixx="5.1376998e-05" ixy="-3.317367e-06" ixz="-6.6970575e-06" iyy="3.9275746e-05" iyz="2.4559639e-07" izz="2.5471586e-05"/>
    </inertial>
  </link>
  <joint name="l_wrist_camera1_color_joint" type="fixed">
    <parent link="l_hand_palm_link"/>
    <child link="l_wrist_camera1_color_frame"/>
    <origin rpy="-1.7206153604355556 -1.0406350954577779 2.5788111922944443" xyz="-0.0367575 -0.0385 0.01804"/>
    <axis xyz="0 0 1"/>
  </joint>
  <link name="l_wrist_camera1_color_optical_frame"/>
  <joint name="l_wrist_camera1_color_optical_joint" type="fixed">
    <parent link="l_wrist_camera1_color_frame"/>
    <child link="l_wrist_camera1_color_optical_frame"/>
    <origin rpy="-1.5707963 0.0 -1.5707963" xyz="0.0 0.0 0.0"/>
    <axis xyz="0 0 1"/>
  </joint>
  <link name="l_wrist_camera2_color_frame"/>
  <joint name="l_wrist_camera2_color_joint" type="fixed">
    <parent link="l_wrist_camera1_color_optical_frame"/>
    <child link="l_wrist_camera2_color_frame"/>
    <origin rpy="0.0 -1.5707963 1.5707963" xyz="-0.02 0.0 0.0"/>
    <axis xyz="0 0 1"/>
  </joint>
  <link name="l_wrist_camera2_color_optical_frame"/>
  <joint name="l_wrist_camera2_color_optical_joint" type="fixed">
    <parent link="l_wrist_camera2_color_frame"/>
    <child link="l_wrist_camera2_color_optical_frame"/>
    <origin rpy="-1.5707963 0.0 -1.5707963" xyz="0.0 0.0 0.0"/>
    <axis xyz="0 0 1"/>
  </joint>
  <link name="r_wrist_camera1_color_frame">
    <visual name="r_wrist_camera1_color_frame_vis">
      <geometry>
        <mesh filename="package://human_description/meshes/M92UW/visual/r_wrist_camera1_color_frame.stl" scale="1e-3 1e-3 1e-3"/>
      </geometry>
      <material name="metal">
        <color rgba="0.85 0.85 0.85 1"/>
      </material>
    </visual>
    <collision name="r_wrist_camera1_color_frame_col">
      <geometry>
        <mesh filename="package://human_description/meshes/M92UW/collision/r_wrist_camera1_color_frame.stl" scale="1e-3 1e-3 1e-3"/>
      </geometry>
    </collision>
    <inertial>
      <origin rpy="0.0 0.0 0.0" xyz="-0.012281312 0.0085635755 -0.0098601055"/>
      <mass value="0.072828309"/>
      <inertia ixx="5.1372649e-05" ixy="3.1322339e-06" ixz="-6.7000109e-06" iyy="3.9274299e-05" iyz="-6.3888236e-07" izz="2.549301e-05"/>
    </inertial>
  </link>
  <joint name="r_wrist_camera1_color_joint" type="fixed">
    <parent link="r_hand_palm_link"/>
    <child link="r_wrist_camera1_color_frame"/>
    <origin rpy="1.720623214417056 -1.040643822103889 0.5627814077055555" xyz="0.0475535 -0.02872279 0.00962709"/>
    <axis xyz="0 0 1"/>
  </joint>
  <link name="r_wrist_camera1_color_optical_frame"/>
  <joint name="r_wrist_camera1_color_optical_joint" type="fixed">
    <parent link="r_wrist_camera1_color_frame"/>
    <child link="r_wrist_camera1_color_optical_frame"/>
    <origin rpy="-1.5707963 0.0 -1.5707963" xyz="0.0 0.0 0.0"/>
    <axis xyz="0 0 1"/>
  </joint>
  <link name="r_wrist_camera2_color_frame"/>
  <joint name="r_wrist_camera2_color_joint" type="fixed">
    <parent link="r_wrist_camera1_color_optical_frame"/>
    <child link="r_wrist_camera2_color_frame"/>
    <origin rpy="0.0 -1.5707963 1.5707963" xyz="-0.02 0.0 0.0"/>
    <axis xyz="0 0 1"/>
  </joint>
  <link name="r_wrist_camera2_color_optical_frame"/>
  <joint name="r_wrist_camera2_color_optical_joint" type="fixed">
    <parent link="r_wrist_camera2_color_frame"/>
    <child link="r_wrist_camera2_color_optical_frame"/>
    <origin rpy="-1.5707963 0.0 -1.5707963" xyz="0.0 0.0 0.0"/>
    <axis xyz="0 0 1"/>
  </joint>
  <link name="head_imu_frame"/>
  <joint name="head_imu_joint" type="fixed">
    <parent link="head2_p_link"/>
    <child link="head_imu_frame"/>
    <origin rpy="-1.5707963 0.0 -1.5707963" xyz="0.10135 0.030741428 0.045873980003"/>
    <axis xyz="0 0 1"/>
  </joint>
  <sensor id="head_imu" name="head_imu" type="imu" update_rate="100.0">
    <parent link="head_imu_frame"/>
    <origin rpy="0 0 0" xyz="0 0 0"/>
  </sensor>
  <!-- ARM FTS-->
  <sensor id="l_arm_force_torque" name="l_arm_fts" type="force_torque" update_rate="100.0">
    <parent link="l_arm_force_sensor_link"/>
    <origin rpy="0 0 0" xyz="0 0 0"/>
    <force_torque frame="l_arm_force_torque" measure_direction="force torque sensor"/>
  </sensor>
  <sensor id="r_arm_force_torque" name="r_arm_fts" type="force_torque" update_rate="100.0">
    <parent link="r_arm_force_sensor_link"/>
    <origin rpy="0 0 0" xyz="0 0 0"/>
    <force_torque frame="r_arm_force_torque" measure_direction="force torque sensor"/>
  </sensor>
</robot>
